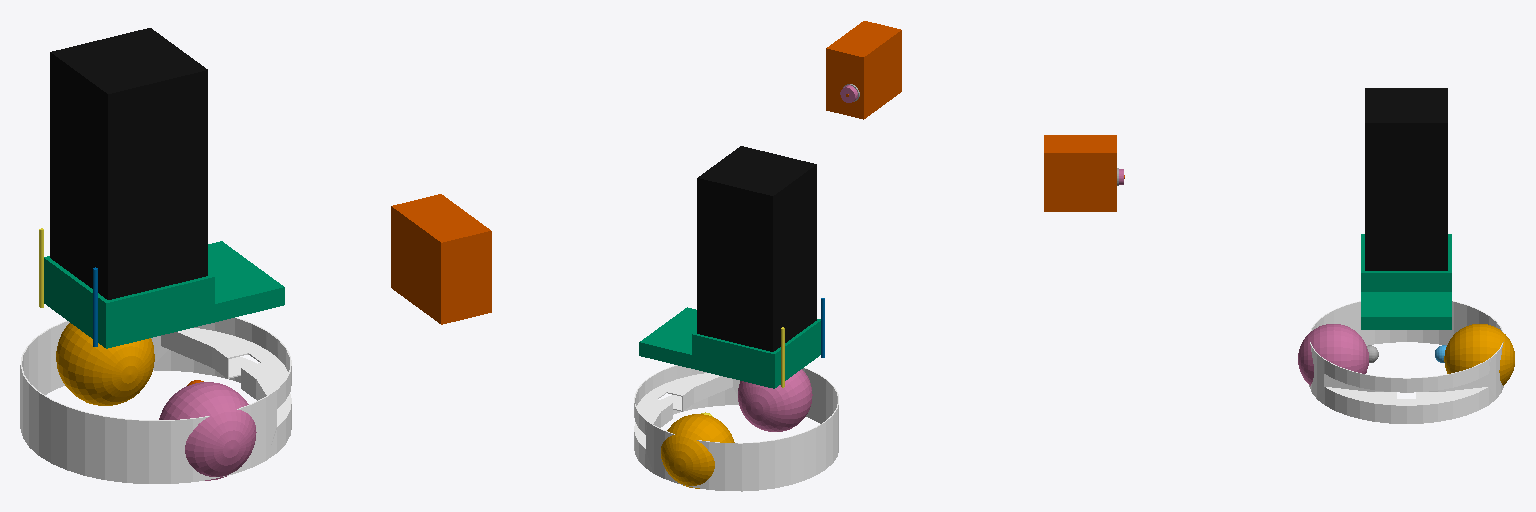
--- What the picture shows (computed from the rendered views, not written in the file) ---
Views: 3 orthographic renders of the robot side by side, from view 1: azimuth 30°, elevation 25°; view 2: azimuth 150°, elevation 25°; view 3: azimuth 270°, elevation 25°.
Robot: tiago — 89 links, 88 joints (45 revolute, 10 continuous, 3 prismatic, 30 fixed); root link base_footprint; default pose: all joints at 0.
Links seen in each view (by area): view 1: torso_fixed_column_link, base_link, torso_fixed_link, hand_safety_box, wheel_right_link, wheel_left_link; view 2: torso_fixed_column_link, base_link, torso_fixed_link, hand_safety_box, wheel_left_link, wheel_right_link; view 3: torso_fixed_column_link, base_link, torso_fixed_link, hand_safety_box, wheel_right_link, wheel_left_link.
Boxes of the visible links, box(x1,y1,x2,y2) form: torso_fixed_column_link: box(50, 28, 207, 299); base_link: box(20, 317, 291, 483); torso_fixed_link: box(44, 241, 284, 348); hand_safety_box: box(391, 194, 491, 324); wheel_right_link: box(159, 382, 256, 480); wheel_left_link: box(56, 323, 154, 405); torso_fixed_column_link: box(697, 146, 816, 351); base_link: box(634, 365, 838, 491); torso_fixed_link: box(639, 307, 820, 388); hand_safety_box: box(826, 21, 901, 119); wheel_left_link: box(661, 414, 734, 488); wheel_right_link: box(738, 369, 812, 431); torso_fixed_column_link: box(1365, 88, 1447, 270); base_link: box(1309, 301, 1503, 423); torso_fixed_link: box(1361, 234, 1451, 329); hand_safety_box: box(1044, 135, 1116, 211); wheel_right_link: box(1298, 324, 1368, 385); wheel_left_link: box(1444, 324, 1514, 385).
Size in the robot's own frame: 0.54 by 1.3 by 0.8435 metres.
Meshes: 17 distinct files referenced, 1 mesh visuals loaded (1 binary STL); not drawn: 31 (reference not matched to a file when rendering).

The robot description file, URDF, robot "tiago":
<?xml version="1.0" ?>
<!-- =================================================================================== -->
<!-- |    This document was autogenerated by xacro from [local-path]/Workspace/mujoco_ws/src/mujoco_robots/tiago/tiago_description/tiago_robot/tiago_description/robots/tiago.urdf.xacro | -->
<!-- |    EDITING THIS FILE BY HAND IS NOT RECOMMENDED                                 | -->
<!-- =================================================================================== -->
<!--

  Copyright (c) 2021 PAL Robotics S.L. All rights reserved.
  Licensed under the Apache License, Version 2.0 (the "License");
  you may not use this file except in compliance with the License.
  You may obtain a copy of the License at
      http://www.apache.org/licenses/LICENSE-2.0
  Unless required by applicable law or agreed to in writing, software
  distributed under the License is distributed on an "AS IS" BASIS,
  WITHOUT WARRANTIES OR CONDITIONS OF ANY KIND, either express or implied.
  See the License for the specific language governing permissions and
  limitations under the License.
-->
<robot name="tiago">
  <material name="Hey5DarkGrey">
    <color rgba="0.1 0.1 0.1 1.0"/>
  </material>
  <!--TODO: Check-->
  <material name="Blue">
    <color rgba="0.0 0.0 0.8 1.0"/>
  </material>
  <material name="Green">
    <color rgba="0.0 0.8 0.0 1.0"/>
  </material>
  <material name="Grey">
    <color rgba="0.7 0.7 0.7 1.0"/>
  </material>
  <material name="LightGrey">
    <color rgba="0.9 0.9 0.9 1.0"/>
  </material>
  <material name="DarkGrey">
    <color rgba="0.1 0.1 0.1 1.0"/>
  </material>
  <material name="Red">
    <color rgba="0.8 0.0 0.0 1.0"/>
  </material>
  <material name="White">
    <color rgba="1.0 1.0 1.0 1.0"/>
  </material>
  <material name="Yellow">
    <color rgba="0.96 0.88 0.14 1.0"/>
  </material>
  <gazebo>
    <plugin filename="libgazebo_ros_control.so" name="gazebo_ros_control">
      <ns/>
      <robotSimType>pal_hardware_gazebo/PalHardwareGazebo</robotSimType>
      <robotNamespace/>
      <controlPeriod>0.001</controlPeriod>
    </plugin>
    <plugin filename="libgazebo_ros_p3d.so" name="gazebo_ros_p3d">
      <bodyName>base_footprint</bodyName>
      <topicName>ground_truth_odom</topicName>
      <alwaysOn>true</alwaysOn>
      <updateRate>100.0</updateRate>
    </plugin>
  </gazebo>
  <gazebo>
    <plugin filename="libgazebo_world_odometry.so" name="gazebo_ros_odometry">
      <frameName>base_footprint</frameName>
      <topicName>floating_base_pose_simulated</topicName>
    </plugin>
  </gazebo>
  <gazebo reference="base_imu_link">
    <!-- this is expected to be reparented to pelvis with appropriate offset
         when imu_link is reduced by fixed joint reduction -->
    <!-- todo: this is working with gazebo 1.4, need to write a unit test -->
    <sensor name="imu_sensor" type="imu">
      <always_on>1</always_on>
      <update_rate>1000.0</update_rate>
      <imu>
        <noise>
          <type>gaussian</type>
          <!-- Noise parameters from Boston Dynamics
               (http://gazebosim.org/wiki/Sensor_noise):
                 rates (rad/s): mean=0, stddev=2e-4
                 accels (m/s/s): mean=0, stddev=1.7e-2
                 rate bias (rad/s): 5e-6 - 1e-5
                 accel bias (m/s/s): 1e-1
               Experimentally, simulation provide rates with noise of
               about 1e-3 rad/s and accels with noise of about 1e-1 m/s/s.
               So we don't expect to see the noise unless number of inner iterations
               are increased.

               We will add bias.  In this model, bias is sampled once for rates
               and once for accels at startup; the sign (negative or positive)
               of each bias is then switched with equal probability.  Thereafter,
               the biases are fixed additive offsets.  We choose
               bias means and stddevs to produce biases close to the provided
               data. -->
          <rate>
            <mean>0.0</mean>
            <stddev>2e-4</stddev>
            <bias_mean>0.0000075</bias_mean>
            <bias_stddev>0.0000008</bias_stddev>
          </rate>
          <accel>
            <mean>0.0</mean>
            <stddev>1.7e-2</stddev>
            <bias_mean>0.1</bias_mean>
            <bias_stddev>0.001</bias_stddev>
          </accel>
        </noise>
      </imu>
    </sensor>
  </gazebo>
  <link name="base_laser_link" type="laser">
    <inertial>
      <origin rpy="0 0 0" xyz="-0.02559000000 -0.00056000000 -0.05732000000"/>
      <mass value="0.28922000000"/>
      <inertia ixx="0.00002628919" ixy="0.00000024298" ixz="-0.00000368129" iyy="0.00003374542" iyz="-0.00000001330" izz="0.00005832599"/>
    </inertial>
    <collision>
      <origin rpy="0 0 0" xyz="0 0 0"/>
      <geometry>
        <mesh filename="package://pmb2_description/meshes/sensors/sick_tim551.stl"/>
      </geometry>
      <material name="DarkGrey"/>
    </collision>
  </link>
  <joint name="base_laser_joint" type="fixed">
    <axis xyz="0 1 0"/>
    <origin rpy="0 0 0" xyz="0.202 0.0 -0.004"/>
    <parent link="base_link"/>
    <child link="base_laser_link"/>
  </joint>
  <gazebo reference="base_laser_link">
    <sensor name="base_laser" type="ray">
      <pose>0 0 0 0 0 0</pose>
      <update_rate>10</update_rate>
      <collisionize>true</collisionize>
      <ray>
        <scan>
          <horizontal>
            <!-- 818 (270/0.33) steps in 270deg fov -->
            <samples>666.5185185185185</samples>
            <resolution>1</resolution>
            <!-- not the sensor resolution; just 1 -->
            <min_angle>-1.9198621771937625</min_angle>
            <max_angle>1.9198621771937625</max_angle>
          </horizontal>
        </scan>
        <range>
          <min>0.05</min>
          <max>25.0</max>
          <resolution>0.001</resolution>
        </range>
      </ray>
      <plugin filename="libgazebo_ros_laser.so" name="gazebo_ros_sick_laser">
        <gaussianNoise>0.06</gaussianNoise>
        <alwaysOn>true</alwaysOn>
        <updateRate>10</updateRate>
        <topicName>scan_raw</topicName>
        <frameName>base_laser_link</frameName>
      </plugin>
    </sensor>
    <material>Gazebo/DarkGrey</material>
  </gazebo>
  <link name="base_sonar_03_link">
    <inertial>
      <origin rpy="0 0 0" xyz="0 0 0"/>
      <mass value="0.001"/>
      <inertia ixx="0.000001" ixy="0" ixz="0" iyy="0.000001" iyz="0" izz="0.000001"/>
    </inertial>
    <collision>
      <origin rpy="0 0 0" xyz="0 0 0"/>
      <geometry>
        <mesh filename="package://pmb2_description/meshes/sensors/srf05.stl"/>
      </geometry>
      <material name="DarkGrey"/>
    </collision>
  </link>
  <joint name="base_sonar_03_joint" type="fixed">
    <origin rpy="0 0 2.356194490192345" xyz="-0.183 0.183 0.173"/>
    <axis xyz="0 0 1"/>
    <parent link="base_link"/>
    <child link="base_sonar_03_link"/>
  </joint>
  <gazebo reference="base_sonar_03_link">
    <sensor name="base_sonar_03" type="ray">
      <pose>0 0 0 0 0 0</pose>
      <update_rate>5</update_rate>
      <collisionize>false</collisionize>
      <ray>
        <scan>
          <horizontal>
            <samples>5</samples>
            <resolution>1</resolution>
            <min_angle>-0.25</min_angle>
            <max_angle>0.25</max_angle>
          </horizontal>
          <vertical>
            <samples>5</samples>
            <resolution>1</resolution>
            <min_angle>-0.25</min_angle>
            <max_angle>0.25</max_angle>
          </vertical>
        </scan>
        <range>
          <min>0.02</min>
          <max>1.0</max>
          <resolution>0.01</resolution>
        </range>
      </ray>
      <plugin filename="libgazebo_ros_range.so" name="gazebo_ros_range">
        <gaussianNoise>0.005</gaussianNoise>
        <alwaysOn>true</alwaysOn>
        <updateRate>5</updateRate>
        <topicName>sonar_base</topicName>
        <frameName>base_sonar_03_link</frameName>
        <minRange>0.02</minRange>
        <maxRange>1.0</maxRange>
        <fov>0.5</fov>
        <radiation>ultrasound</radiation>
      </plugin>
    </sensor>
    <material>Gazebo/DarkGrey</material>
  </gazebo>
  <link name="base_sonar_02_link">
    <inertial>
      <origin rpy="0 0 0" xyz="0 0 0"/>
      <mass value="0.001"/>
      <inertia ixx="0.000001" ixy="0" ixz="0" iyy="0.000001" iyz="0" izz="0.000001"/>
    </inertial>
    <collision>
      <origin rpy="0 0 0" xyz="0 0 0"/>
      <geometry>
        <mesh filename="package://pmb2_description/meshes/sensors/srf05.stl"/>
      </geometry>
      <material name="DarkGrey"/>
    </collision>
  </link>
  <joint name="base_sonar_02_joint" type="fixed">
    <origin rpy="0 0 3.141592653589793" xyz="-0.259 0.0 0.173"/>
    <axis xyz="0 0 1"/>
    <parent link="base_link"/>
    <child link="base_sonar_02_link"/>
  </joint>
  <gazebo reference="base_sonar_02_link">
    <sensor name="base_sonar_02" type="ray">
      <pose>0 0 0 0 0 0</pose>
      <update_rate>5</update_rate>
      <collisionize>false</collisionize>
      <ray>
        <scan>
          <horizontal>
            <samples>5</samples>
            <resolution>1</resolution>
            <min_angle>-0.25</min_angle>
            <max_angle>0.25</max_angle>
          </horizontal>
          <vertical>
            <samples>5</samples>
            <resolution>1</resolution>
            <min_angle>-0.25</min_angle>
            <max_angle>0.25</max_angle>
          </vertical>
        </scan>
        <range>
          <min>0.02</min>
          <max>1.0</max>
          <resolution>0.01</resolution>
        </range>
      </ray>
      <plugin filename="libgazebo_ros_range.so" name="gazebo_ros_range">
        <gaussianNoise>0.005</gaussianNoise>
        <alwaysOn>true</alwaysOn>
        <updateRate>5</updateRate>
        <topicName>sonar_base</topicName>
        <frameName>base_sonar_02_link</frameName>
        <minRange>0.02</minRange>
        <maxRange>1.0</maxRange>
        <fov>0.5</fov>
        <radiation>ultrasound</radiation>
      </plugin>
    </sensor>
    <material>Gazebo/DarkGrey</material>
  </gazebo>
  <link name="base_sonar_01_link">
    <inertial>
      <origin rpy="0 0 0" xyz="0 0 0"/>
      <mass value="0.001"/>
      <inertia ixx="0.000001" ixy="0" ixz="0" iyy="0.000001" iyz="0" izz="0.000001"/>
    </inertial>
    <collision>
      <origin rpy="0 0 0" xyz="0 0 0"/>
      <geometry>
        <mesh filename="package://pmb2_description/meshes/sensors/srf05.stl"/>
      </geometry>
      <material name="DarkGrey"/>
    </collision>
  </link>
  <joint name="base_sonar_01_joint" type="fixed">
    <origin rpy="0 0 3.9269908169872414" xyz="-0.183 -0.183 0.173"/>
    <axis xyz="0 0 1"/>
    <parent link="base_link"/>
    <child link="base_sonar_01_link"/>
  </joint>
  <gazebo reference="base_sonar_01_link">
    <sensor name="base_sonar_01" type="ray">
      <pose>0 0 0 0 0 0</pose>
      <update_rate>5</update_rate>
      <collisionize>false</collisionize>
      <ray>
        <scan>
          <horizontal>
            <samples>5</samples>
            <resolution>1</resolution>
            <min_angle>-0.25</min_angle>
            <max_angle>0.25</max_angle>
          </horizontal>
          <vertical>
            <samples>5</samples>
            <resolution>1</resolution>
            <min_angle>-0.25</min_angle>
            <max_angle>0.25</max_angle>
          </vertical>
        </scan>
        <range>
          <min>0.02</min>
          <max>1.0</max>
          <resolution>0.01</resolution>
        </range>
      </ray>
      <plugin filename="libgazebo_ros_range.so" name="gazebo_ros_range">
        <gaussianNoise>0.005</gaussianNoise>
        <alwaysOn>true</alwaysOn>
        <updateRate>5</updateRate>
        <topicName>sonar_base</topicName>
        <frameName>base_sonar_01_link</frameName>
        <minRange>0.02</minRange>
        <maxRange>1.0</maxRange>
        <fov>0.5</fov>
        <radiation>ultrasound</radiation>
      </plugin>
    </sensor>
    <material>Gazebo/DarkGrey</material>
  </gazebo>
  <link name="base_mic_front_left_link"/>
  <joint name="base_mic_front_left_joint" type="fixed">
    <origin rpy="0 0 0" xyz="0.23182 0.03902 0.195"/>
    <child link="base_mic_front_left_link"/>
    <parent link="base_link"/>
  </joint>
  <link name="base_mic_front_right_link"/>
  <joint name="base_mic_front_right_joint" type="fixed">
    <origin rpy="0 0 0" xyz="0.23182 -0.03902 0.195"/>
    <child link="base_mic_front_right_link"/>
    <parent link="base_link"/>
  </joint>
  <link name="base_mic_back_left_link"/>
  <joint name="base_mic_back_left_joint" type="fixed">
    <origin rpy="0 0 0" xyz="-0.1082 -0.0599 0.195"/>
    <child link="base_mic_back_left_link"/>
    <parent link="base_link"/>
  </joint>
  <link name="base_mic_back_right_link"/>
  <joint name="base_mic_back_right_joint" type="fixed">
    <origin rpy="0 0 0" xyz="-0.1082 -0.13789 0.195"/>
    <child link="base_mic_back_right_link"/>
    <parent link="base_link"/>
  </joint>
  <!-- Base -->
  <link name="base_link">
    <inertial>
      <origin rpy="0 0 0" xyz="-0.00000106 0.00000109 0.0000387"/>
      <mass value="28.26649"/>
      <inertia ixx="0.465408937" ixy="0.002160024" ixz="-0.001760255" iyy="0.483193291" iyz="-0.000655952" izz="0.550939703"/>
    </inertial>
    <collision>
      <origin rpy="0 0 0" xyz="0 0 0"/>
      <geometry>
        <mesh filename="package://pmb2_description/meshes/base/base.stl"/>
      </geometry>
      <material name="White"/>
    </collision>
    <visual>
      <origin rpy="0 0 0" xyz="0 0 0"/>
      <geometry>
        <mesh filename="package://pmb2_description/meshes/base/base_collision.stl"/>
      </geometry>
      <material name="White"/>
    </visual>
  </link>
  <gazebo reference="base_link">
    <material>Gazebo/White</material>
  </gazebo>
  <!-- Base footprint -->
  <link name="base_footprint"/>
  <joint name="base_footprint_joint" type="fixed">
    <origin rpy="0 0 0" xyz="0 0 0.0985"/>
    <child link="base_link"/>
    <parent link="base_footprint"/>
  </joint>
  <!-- gazebo parameters are given here for base_link thru base_footprint -->
  <gazebo reference="base_footprint">
    <kp>100000000.0</kp>
    <kd>10.0</kd>
    <mu1>0.1</mu1>
    <mu2>0.1</mu2>
    <fdir1>1 0 0</fdir1>
    <maxVel>10.0</maxVel>
    <minDepth>0.0005</minDepth>
    <laserRetro>0</laserRetro>
  </gazebo>
  <link name="base_cover_link">
    <inertial>
      <origin rpy="0 0 0" xyz="0.22414000000 0.00002000000 0.04681000000"/>
      <mass value="0.25821000000"/>
      <inertia ixx="0.00023719188" ixy="0.00000006119" ixz="-0.00000011799" iyy="0.00028335052" iyz="0.00000000774" izz="0.00038497063"/>
    </inertial>
    <collision>
      <origin rpy="0 0 0" xyz="0 0 0"/>
      <geometry>
        <mesh filename="package://pmb2_description/meshes/base/base_ring.stl"/>
      </geometry>
      <material name="Orange"/>
    </collision>
  </link>
  <joint name="cover_joint" type="fixed">
    <parent link="base_footprint"/>
    <child link="base_cover_link"/>
    <origin rpy="0 0 0" xyz="0 0 0.13"/>
  </joint>
  <gazebo reference="base_cover_link">
    <material>Gazebo/Orange</material>
  </gazebo>
  <link name="base_antenna_left_link">
    <inertial>
      <origin rpy="0 0 0" xyz="0 0 0"/>
      <mass value="0.000001"/>
      <inertia ixx="0.00000002371" ixy="0.00000006119" ixz="0.00000001179" iyy="0.00000002833" iyz="0.00000000774" izz="0.00000003849"/>
    </inertial>
    <collision>
      <origin rpy="0 0 0" xyz="0 0 0"/>
      <geometry>
        <mesh filename="package://pmb2_description/meshes/objects/antenna.stl"/>
      </geometry>
      <material name="Black"/>
    </collision>
    <visual>
      <origin rpy="0 0 0" xyz="0 0 0.085"/>
      <geometry>
        <cylinder length="0.17" radius="0.005"/>
      </geometry>
      <material name="Black"/>
    </visual>
  </link>
  <gazebo reference="base_antenna_left_link">
    <material>Gazebo/Black</material>
  </gazebo>
  <joint name="base_antenna_left_joint" type="fixed">
    <parent link="base_link"/>
    <child link="base_antenna_left_link"/>
    <origin rpy="0 0 0" xyz="-0.201 0.1062 0.195"/>
  </joint>
  <link name="base_antenna_right_link">
    <inertial>
      <origin rpy="0 0 0" xyz="0 0 0"/>
      <mass value="0.000001"/>
      <inertia ixx="0.00000002371" ixy="0.00000006119" ixz="0.00000001179" iyy="0.00000002833" iyz="0.00000000774" izz="0.00000003849"/>
    </inertial>
    <collision>
      <origin rpy="0 0 0" xyz="0 0 0"/>
      <geometry>
        <mesh filename="package://pmb2_description/meshes/objects/antenna.stl"/>
      </geometry>
      <material name="Black"/>
    </collision>
    <visual>
      <origin rpy="0 0 0" xyz="0 0 0.085"/>
      <geometry>
        <cylinder length="0.17" radius="0.005"/>
      </geometry>
      <material name="Black"/>
    </visual>
  </link>
  <gazebo reference="base_antenna_right_link">
    <material>Gazebo/Black</material>
  </gazebo>
  <joint name="base_antenna_right_joint" type="fixed">
    <parent link="base_link"/>
    <child link="base_antenna_right_link"/>
    <origin rpy="0 0 0" xyz="-0.201 -0.1062 0.195"/>
  </joint>
  <link name="base_imu_link">
    <inertial>
      <mass value="0.01"/>
      <origin xyz="0 0 0"/>
      <inertia ixx="0.000001" ixy="0" ixz="0" iyy="0.000001" iyz="0" izz="0.000001"/>
    </inertial>
    <!--collision>
        <origin rpy="0 0 0" xyz="0 0 0"/>
        <geometry>
          <box size="0.01 0.01 0.01"/>
        </geometry>
      </collision-->
  </link>
  <joint name="base_imu_joint" type="fixed">
    <parent link="base_link"/>
    <child link="base_imu_link"/>
    <origin rpy="0 0 -1.5707963267948966" xyz="0.10171 0 0.11282"/>
  </joint>
  <gazebo reference="base_imu_link">
    <sensor name="base_imu_sensor" type="imu">
      <always_on>1</always_on>
      <update_rate>100.0</update_rate>
      <imu>
        <noise>
          <type>gaussian</type>
          <rate>
            <mean>0.0</mean>
            <stddev>2e-4</stddev>
            <bias_mean>0.0000075</bias_mean>
            <bias_stddev>0.0000008</bias_stddev>
          </rate>
          <accel>
            <mean>0.0</mean>
            <stddev>1.7e-2</stddev>
            <bias_mean>0.1</bias_mean>
            <bias_stddev>0.001</bias_stddev>
          </accel>
        </noise>
      </imu>
    </sensor>
  </gazebo>
  <link name="wheel_right_link">
    <inertial>
      <origin rpy="0 0 0" xyz="0 0 -0.00207"/>
      <mass value="1.82362"/>
      <inertia ixx="0.00499743171" ixy="4.464e-08" ixz="-0.00000002245" iyy="0.00499741733" iyz="-1.64e-09" izz="0.00839239692"/>
    </inertial>
    <collision>
      <origin rpy="-0.0 0 0" xyz="0 0 0"/>
      <geometry>
        <mesh filename="package://pmb2_description/meshes/wheels/wheel.stl"/>
      </geometry>
      <material name="DarkGrey"/>
    </collision>
    <visual>
      <origin rpy="0 0 0" xyz="0 0 0"/>
      <geometry>
        <sphere radius="0.0985"/>
        <!-- length="${width}"/> -->
      </geometry>
    </visual>
  </link>
  <link name="suspension_right_link">
    <inertial>
      <origin rpy="0 0 0" xyz="0 0 -0.02"/>
      <mass value="10"/>
      <inertia ixx="1.0" ixy="0" ixz="0" iyy="1.0" iyz="0" izz="1.0"/>
    </inertial>
    <kinematic>0</kinematic>
    <gravity>1</gravity>
  </link>
  <joint name="suspension_right_joint" type="prismatic">
    <origin rpy="0 0 0" xyz="0 0 0"/>
    <axis xyz="0 0 1"/>
    <limit effort="100.0" lower="-0.005" upper="0.005" velocity="1.0"/>
    <child link="suspension_right_link"/>
    <parent link="base_link"/>
    <calibration rising="0.0"/>
    <dynamics damping="100"/>
    <safety_controller k_position="0" k_velocity="10" soft_lower_limit="-0.005" soft_upper_limit="0.005"/>
  </joint>
  <joint name="wheel_right_joint" type="continuous">
    <parent link="suspension_right_link"/>
    <child link="wheel_right_link"/>
    <origin rpy="-1.5707963267948966 0 0" xyz="0 -0.2022 0.0"/>
    <axis xyz="0 0 1"/>
    <limit effort="6.0" velocity="10.152284263959391"/>
  </joint>
  <transmission name="wheel_right_trans">
    <type>transmission_interface/SimpleTransmission</type>
    <actuator name="wheel_right_motor">
      <mechanicalReduction>1.0</mechanicalReduction>
    </actuator>
    <joint name="wheel_right_joint">
      <hardwareInterface>hardware_interface/VelocityJointInterface</hardwareInterface>
      <hardwareInterface>hardware_interface/JointStateInterface</hardwareInterface>
    </joint>
  </transmission>
  <!-- Contact model for the wheel surface -->
  <gazebo reference="wheel_right_link">
    <kp>1000000.0</kp>
    <kd>100.0</kd>
    <!--
      <mu1>10.0</mu1>
      <mu2>10.0</mu2>
      -->
    <mu1>100000000000000.0</mu1>
    <mu2>100000000000000.0</mu2>
    <!--<fdir1>1 0 0</fdir1>-->
    <maxVel>1.0</maxVel>
    <minDepth>0.002</minDepth>
    <material>Gazebo/DarkGrey</material>
  </gazebo>
  <gazebo reference="wheel_{side}_joint">
    <implicitSpringDamper>1</implicitSpringDamper>
  </gazebo>
  <link name="wheel_left_link">
    <inertial>
      <origin rpy="0 0 0" xyz="0 0 0.00207"/>
      <mass value="1.82362"/>
      <inertia ixx="0.00499743171" ixy="-4.464e-08" ixz="-0.00000002245" iyy="0.00499741733" iyz="1.64e-09" izz="0.00839239692"/>
    </inertial>
    <collision>
      <origin rpy="-3.141592653589793 0 0" xyz="0 0 0"/>
      <geometry>
        <mesh filename="package://pmb2_description/meshes/wheels/wheel.stl"/>
      </geometry>
      <material name="DarkGrey"/>
    </collision>
    <visual>
      <origin rpy="0 0 0" xyz="0 0 0"/>
      <geometry>
        <sphere radius="0.0985"/>
        <!-- length="${width}"/> -->
      </geometry>
    </visual>
  </link>
  <link name="suspension_left_link">
    <inertial>
      <origin rpy="0 0 0" xyz="0 0 -0.02"/>
      <mass value="10"/>
      <inertia ixx="1.0" ixy="0" ixz="0" iyy="1.0" iyz="0" izz="1.0"/>
    </inertial>
    <kinematic>0</kinematic>
    <gravity>1</gravity>
  </link>
  <joint name="suspension_left_joint" type="prismatic">
    <origin rpy="0 0 0" xyz="0 0 0"/>
    <axis xyz="0 0 1"/>
    <limit effort="100.0" lower="-0.005" upper="0.005" velocity="1.0"/>
    <child link="suspension_left_link"/>
    <parent link="base_link"/>
    <calibration rising="0.0"/>
    <dynamics damping="100"/>
    <safety_controller k_position="0" k_velocity="10" soft_lower_limit="-0.005" soft_upper_limit="0.005"/>
  </joint>
  <joint name="wheel_left_joint" type="continuous">
    <parent link="suspension_left_link"/>
    <child link="wheel_left_link"/>
    <origin rpy="-1.5707963267948966 0 0" xyz="0 0.2022 0.0"/>
    <axis xyz="0 0 1"/>
    <limit effort="6.0" velocity="10.152284263959391"/>
  </joint>
  <transmission name="wheel_left_trans">
    <type>transmission_interface/SimpleTransmission</type>
    <actuator name="wheel_left_motor">
      <mechanicalReduction>1.0</mechanicalReduction>
    </actuator>
    <joint name="wheel_left_joint">
      <hardwareInterface>hardware_interface/VelocityJointInterface</hardwareInterface>
      <hardwareInterface>hardware_interface/JointStateInterface</hardwareInterface>
    </joint>
  </transmission>
  <!-- Contact model for the wheel surface -->
  <gazebo reference="wheel_left_link">
    <kp>1000000.0</kp>
    <kd>100.0</kd>
    <!--
      <mu1>10.0</mu1>
      <mu2>10.0</mu2>
      -->
    <mu1>100000000000000.0</mu1>
    <mu2>100000000000000.0</mu2>
    <!--<fdir1>1 0 0</fdir1>-->
    <maxVel>1.0</maxVel>
    <minDepth>0.002</minDepth>
    <material>Gazebo/DarkGrey</material>
  </gazebo>
  <gazebo reference="wheel_{side}_joint">
    <implicitSpringDamper>1</implicitSpringDamper>
  </gazebo>
  <link name="caster_front_right_1_link">
    <inertial>
      <origin rpy="0 0 0" xyz="-0.00634599 0.00005347 -0.02037519"/>
      <mass value="0.05144761"/>
      <inertia ixx="0.00001513" ixy="-0.00000003" ixz="0.00000267" iyy="0.00001309" iyz="-0.00000005" izz="0.00001198"/>
    </inertial>
    <collision>
      <origin rpy="0 0 0" xyz="0 0 0"/>
      <geometry>
        <mesh filename="package://pmb2_description/meshes/wheels/caster_1.stl"/>
      </geometry>
      <material name="Grey"/>
    </collision>
    <!--visual>
        <origin xyz="0 0 0" rpy="0 0 0"/>
        <geometry>
          <cylinder radius="${radius}" length="${width}"/>
        </geometry>
      </visual-->
  </link>
  <link name="caster_front_right_2_link">
    <inertial>
      <origin rpy="0 0 0" xyz="0 0 0"/>
      <mass value="0.08855784"/>
      <inertia ixx="0.00001075" ixy="0" ixz="0" iyy="0.00001541" iyz="0" izz="0.00001075"/>
    </inertial>
    <collision>
      <origin rpy="0 0 0" xyz="0 0 0"/>
      <geometry>
        <mesh filename="package://pmb2_description/meshes/wheels/caster_2.stl"/>
      </geometry>
      <material name="DarkGrey"/>
    </collision>
    <visual>
      <origin rpy="0 0 0" xyz="0 0 0"/>
      <geometry>
        <sphere radius="0.025"/>
      </geometry>
    </visual>
  </link>
  <joint name="caster_front_right_1_joint" type="continuous">
    <parent link="base_link"/>
    <child link="caster_front_right_1_link"/>
    <origin rpy="0 0 0" xyz="0.1695 -0.102 -0.0335"/>
    <axis xyz="0 0 1"/>
    <dynamics damping="0.005" friction="0.0"/>
  </joint>
  <joint name="caster_front_right_2_joint" type="continuous">
    <parent link="caster_front_right_1_link"/>
    <child link="caster_front_right_2_link"/>
    <origin rpy="-1.5707963267948966 0 0" xyz="-0.016 0.0000 -0.040"/>
    <axis xyz="0 0 1"/>
  </joint>
  <!-- Contact model for the caster wheel surface -->
  <gazebo reference="caster_front_right_1_link">
    <kp>100000000.0</kp>
    <kd>10.0</kd>
    <mu1>0.1</mu1>
    <mu2>0.1</mu2>
    <!--<fdir1>1 0 0</fdir1>-->
    <maxVel>10.0</maxVel>
    <minDepth>0.0005</minDepth>
    <material>Gazebo/DarkGrey</material>
  </gazebo>
  <gazebo reference="caster_front_right_2_link">
    <kp>10000000.0</kp>
    <kd>10.0</kd>
    <mu1>0.1</mu1>
    <mu2>0.1</mu2>
    <!--<fdir1>1 0 0</fdir1>-->
    <maxVel>10.0</maxVel>
    <minDepth>0.0005</minDepth>
    <material>Gazebo/DarkGrey</material>
  </gazebo>
  <gazebo reference="caster_{side}_1_joint">
    <implicitSpringDamper>0</implicitSpringDamper>
  </gazebo>
  <gazebo reference="caster_{side}_2_joint">
    <implicitSpringDamper>0</implicitSpringDamper>
  </gazebo>
  <link name="caster_front_left_1_link">
    <inertial>
      <origin rpy="0 0 0" xyz="-0.00634599 0.00005347 -0.02037519"/>
      <mass value="0.05144761"/>
      <inertia ixx="0.00001513" ixy="-0.00000003" ixz="0.00000267" iyy="0.00001309" iyz="-0.00000005" izz="0.00001198"/>
    </inertial>
    <collision>
      <origin rpy="0 0 0" xyz="0 0 0"/>
      <geometry>
        <mesh filename="package://pmb2_description/meshes/wheels/caster_1.stl"/>
      </geometry>
      <material name="Grey"/>
    </collision>
    <!--visual>
        <origin xyz="0 0 0" rpy="0 0 0"/>
        <geometry>
          <cylinder radius="${radius}" length="${width}"/>
        </geometry>
      </visual-->
  </link>
  <link name="caster_front_left_2_link">
    <inertial>
      <origin rpy="0 0 0" xyz="0 0 0"/>
      <mass value="0.08855784"/>
      <inertia ixx="0.00001075" ixy="0" ixz="0" iyy="0.00001541" iyz="0" izz="0.00001075"/>
    </inertial>
    <collision>
      <origin rpy="0 0 0" xyz="0 0 0"/>
      <geometry>
        <mesh filename="package://pmb2_description/meshes/wheels/caster_2.stl"/>
      </geometry>
      <material name="DarkGrey"/>
    </collision>
    <visual>
      <origin rpy="0 0 0" xyz="0 0 0"/>
      <geometry>
        <sphere radius="0.025"/>
      </geometry>
    </visual>
  </link>
  <joint name="caster_front_left_1_joint" type="continuous">
    <parent link="base_link"/>
    <child link="caster_front_left_1_link"/>
    <origin rpy="0 0 0" xyz="0.1695 0.102 -0.0335"/>
    <axis xyz="0 0 1"/>
    <dynamics damping="0.005" friction="0.0"/>
  </joint>
  <joint name="caster_front_left_2_joint" type="continuous">
    <parent link="caster_front_left_1_link"/>
    <child link="caster_front_left_2_link"/>
    <origin rpy="-1.5707963267948966 0 0" xyz="-0.016 0.0000 -0.040"/>
    <axis xyz="0 0 1"/>
  </joint>
  <!-- Contact model for the caster wheel surface -->
  <gazebo reference="caster_front_left_1_link">
    <kp>100000000.0</kp>
    <kd>10.0</kd>
    <mu1>0.1</mu1>
    <mu2>0.1</mu2>
    <!--<fdir1>1 0 0</fdir1>-->
    <maxVel>10.0</maxVel>
    <minDepth>0.0005</minDepth>
    <material>Gazebo/DarkGrey</material>
  </gazebo>
  <gazebo reference="caster_front_left_2_link">
    <kp>10000000.0</kp>
    <kd>10.0</kd>
    <mu1>0.1</mu1>
    <mu2>0.1</mu2>
    <!--<fdir1>1 0 0</fdir1>-->
    <maxVel>10.0</maxVel>
    <minDepth>0.0005</minDepth>
    <material>Gazebo/DarkGrey</material>
  </gazebo>
  <gazebo reference="caster_{side}_1_joint">
    <implicitSpringDamper>0</implicitSpringDamper>
  </gazebo>
  <gazebo reference="caster_{side}_2_joint">
    <implicitSpringDamper>0</implicitSpringDamper>
  </gazebo>
  <link name="caster_back_right_1_link">
    <inertial>
      <origin rpy="0 0 0" xyz="-0.00634599 0.00005347 -0.02037519"/>
      <mass value="0.05144761"/>
      <inertia ixx="0.00001513" ixy="-0.00000003" ixz="0.00000267" iyy="0.00001309" iyz="-0.00000005" izz="0.00001198"/>
    </inertial>
    <collision>
      <origin rpy="0 0 0" xyz="0 0 0"/>
      <geometry>
        <mesh filename="package://pmb2_description/meshes/wheels/caster_1.stl"/>
      </geometry>
      <material name="Grey"/>
    </collision>
    <!--visual>
        <origin xyz="0 0 0" rpy="0 0 0"/>
        <geometry>
          <cylinder radius="${radius}" length="${width}"/>
        </geometry>
      </visual-->
  </link>
  <link name="caster_back_right_2_link">
    <inertial>
      <origin rpy="0 0 0" xyz="0 0 0"/>
      <mass value="0.08855784"/>
      <inertia ixx="0.00001075" ixy="0" ixz="0" iyy="0.00001541" iyz="0" izz="0.00001075"/>
    </inertial>
    <collision>
      <origin rpy="0 0 0" xyz="0 0 0"/>
      <geometry>
        <mesh filename="package://pmb2_description/meshes/wheels/caster_2.stl"/>
      </geometry>
      <material name="DarkGrey"/>
    </collision>
    <visual>
      <origin rpy="0 0 0" xyz="0 0 0"/>
      <geometry>
        <sphere radius="0.025"/>
      </geometry>
    </visual>
  </link>
  <joint name="caster_back_right_1_joint" type="continuous">
    <parent link="base_link"/>
    <child link="caster_back_right_1_link"/>
    <origin rpy="0 0 0" xyz="-0.17350000000000002 -0.102 -0.0335"/>
    <axis xyz="0 0 1"/>
    <dynamics damping="0.005" friction="0.0"/>
  </joint>
  <joint name="caster_back_right_2_joint" type="continuous">
    <parent link="caster_back_right_1_link"/>
    <child link="caster_back_right_2_link"/>
    <origin rpy="-1.5707963267948966 0 0" xyz="-0.016 0.0000 -0.040"/>
    <axis xyz="0 0 1"/>
  </joint>
  <!-- Contact model for the caster wheel surface -->
  <gazebo reference="caster_back_right_1_link">
    <kp>100000000.0</kp>
    <kd>10.0</kd>
    <mu1>0.1</mu1>
    <mu2>0.1</mu2>
    <!--<fdir1>1 0 0</fdir1>-->
    <maxVel>10.0</maxVel>
    <minDepth>0.0005</minDepth>
    <material>Gazebo/DarkGrey</material>
  </gazebo>
  <gazebo reference="caster_back_right_2_link">
    <kp>10000000.0</kp>
    <kd>10.0</kd>
    <mu1>0.1</mu1>
    <mu2>0.1</mu2>
    <!--<fdir1>1 0 0</fdir1>-->
    <maxVel>10.0</maxVel>
    <minDepth>0.0005</minDepth>
    <material>Gazebo/DarkGrey</material>
  </gazebo>
  <gazebo reference="caster_{side}_1_joint">
    <implicitSpringDamper>0</implicitSpringDamper>
  </gazebo>
  <gazebo reference="caster_{side}_2_joint">
    <implicitSpringDamper>0</implicitSpringDamper>
  </gazebo>
  <link name="caster_back_left_1_link">
    <inertial>
      <origin rpy="0 0 0" xyz="-0.00634599 0.00005347 -0.02037519"/>
      <mass value="0.05144761"/>
      <inertia ixx="0.00001513" ixy="-0.00000003" ixz="0.00000267" iyy="0.00001309" iyz="-0.00000005" izz="0.00001198"/>
    </inertial>
    <collision>
      <origin rpy="0 0 0" xyz="0 0 0"/>
      <geometry>
        <mesh filename="package://pmb2_description/meshes/wheels/caster_1.stl"/>
      </geometry>
      <material name="Grey"/>
    </collision>
    <!--visual>
        <origin xyz="0 0 0" rpy="0 0 0"/>
        <geometry>
          <cylinder radius="${radius}" length="${width}"/>
        </geometry>
      </visual-->
  </link>
  <link name="caster_back_left_2_link">
    <inertial>
      <origin rpy="0 0 0" xyz="0 0 0"/>
      <mass value="0.08855784"/>
      <inertia ixx="0.00001075" ixy="0" ixz="0" iyy="0.00001541" iyz="0" izz="0.00001075"/>
    </inertial>
    <collision>
      <origin rpy="0 0 0" xyz="0 0 0"/>
      <geometry>
        <mesh filename="package://pmb2_description/meshes/wheels/caster_2.stl"/>
      </geometry>
      <material name="DarkGrey"/>
    </collision>
    <visual>
      <origin rpy="0 0 0" xyz="0 0 0"/>
      <geometry>
        <sphere radius="0.025"/>
      </geometry>
    </visual>
  </link>
  <joint name="caster_back_left_1_joint" type="continuous">
    <parent link="base_link"/>
    <child link="caster_back_left_1_link"/>
    <origin rpy="0 0 0" xyz="-0.17350000000000002 0.102 -0.0335"/>
    <axis xyz="0 0 1"/>
    <dynamics damping="0.005" friction="0.0"/>
  </joint>
  <joint name="caster_back_left_2_joint" type="continuous">
    <parent link="caster_back_left_1_link"/>
    <child link="caster_back_left_2_link"/>
    <origin rpy="-1.5707963267948966 0 0" xyz="-0.016 0.0000 -0.040"/>
    <axis xyz="0 0 1"/>
  </joint>
  <!-- Contact model for the caster wheel surface -->
  <gazebo reference="caster_back_left_1_link">
    <kp>100000000.0</kp>
    <kd>10.0</kd>
    <mu1>0.1</mu1>
    <mu2>0.1</mu2>
    <!--<fdir1>1 0 0</fdir1>-->
    <maxVel>10.0</maxVel>
    <minDepth>0.0005</minDepth>
    <material>Gazebo/DarkGrey</material>
  </gazebo>
  <gazebo reference="caster_back_left_2_link">
    <kp>10000000.0</kp>
    <kd>10.0</kd>
    <mu1>0.1</mu1>
    <mu2>0.1</mu2>
    <!--<fdir1>1 0 0</fdir1>-->
    <maxVel>10.0</maxVel>
    <minDepth>0.0005</minDepth>
    <material>Gazebo/DarkGrey</material>
  </gazebo>
  <gazebo reference="caster_{side}_1_joint">
    <implicitSpringDamper>0</implicitSpringDamper>
  </gazebo>
  <gazebo reference="caster_{side}_2_joint">
    <implicitSpringDamper>0</implicitSpringDamper>
  </gazebo>
  <!-- Bottom fixed part of column -->
  <link name="torso_fixed_link">
    <inertial>
      <origin rpy="0.00000 0.00000 0.00000" xyz="0.02435 -0.00464 0.15900"/>
      <mass value="14.01360"/>
      <inertia ixx="0.38341100000" ixy="0.00036400000" ixz="-0.02438900000" iyy="0.40577300000" iyz="-0.00078200000" izz="0.07699800000"/>
    </inertial>
    <collision>
      <origin rpy="0 0 0" xyz="0 0 0"/>
      <geometry>
        <mesh filename="package://tiago_description/meshes/torso/torso_fix.stl" scale="1 1 1"/>
      </geometry>
      <material name="LightGrey"/>
    </collision>
    <visual>
      <origin rpy="0 0 0" xyz="0.085 0.0 0.02"/>
      <geometry>
        <box size="0.4 0.25 0.04"/>
      </geometry>
    </visual>
    <visual>
      <origin rpy="0 0 0" xyz="0 0 0.05"/>
      <geometry>
        <box size="0.25 0.25 0.1"/>
      </geometry>
    </visual>
  </link>
  <joint name="torso_fixed_joint" type="fixed">
    <origin rpy="0 0 0" xyz="-0.062 0.0 0.193"/>
    <parent link="base_link"/>
    <child link="torso_fixed_link"/>
    <axis xyz="0 0 0"/>
  </joint>
  <!-- Middle extending  -->
  <link name="torso_fixed_column_link">
    <inertial>
      <origin rpy="0 0 0" xyz="0 0 0"/>
      <mass value="0.01"/>
      <inertia ixx="0.000001" ixy="0" ixz="0" iyy="0.000001" iyz="0" izz="0.000001"/>
    </inertial>
    <collision>
      <origin rpy="0 0 0" xyz="0 0 0.275"/>
      <geometry>
        <box size="0.18 0.2 0.55"/>
      </geometry>
      <material name="DarkGrey"/>
    </collision>
    <visual>
      <origin rpy="0 0 0" xyz="0 0 0.275"/>
      <geometry>
        <box size="0.23 0.23 0.55"/>
      </geometry>
      <material name="DarkGrey"/>
    </visual>
  </link>
  <gazebo reference="torso_fixed_column_link">
    <material>Gazebo/DarkGrey</material>
  </gazebo>
  <joint name="torso_fixed_column_joint" type="fixed">
    <origin rpy="0 0 0" xyz="-0.062 0 0.195"/>
    <parent link="base_link"/>
    <child link="torso_fixed_column_link"/>
    <axis xyz="0 0 0"/>
  </joint>
  <link name="torso_lift_link">
    <inertial>
      <origin rpy="0.00000 0.00000 0.00000" xyz="0.04361 -0.00116 -0.17334"/>
      <mass value="6.93198"/>
      <inertia ixx="0.24487000000" ixy="-0.00145600000" ixz="-0.00974200000" iyy="0.24926900000" iyz="0.00828100000" izz="0.09039500000"/>
    </inertial>
    <!-- Lifting body -->
    <collision>
      <origin rpy="0 0 0" xyz="0 0 0"/>
      <geometry>
        <mesh filename="package://tiago_description/meshes/torso/torso_lift_with_arm.stl" scale="1 1 1"/>
      </geometry>
      <material name="White"/>
    </collision>
    <visual>
      <origin rpy="0 0 0" xyz="0 0 0"/>
      <geometry>
        <mesh filename="package://tiago_description/meshes/torso/torso_lift_visual_core.dae" scale="1 1 1"/>
      </geometry>
      <material name="LightGrey"/>
    </visual>
    <visual>
      <origin rpy="0 0 0" xyz="0 0 0"/>
      <geometry>
        <mesh filename="package://tiago_description/meshes/torso/torso_lift_visual_shoulder.dae" scale="1 1 1"/>
      </geometry>
      <material name="LightGrey"/>
    </visual>
    <visual>
      <origin rpy="0 0 0" xyz="0 0 0"/>
      <geometry>
        <mesh filename="package://tiago_description/meshes/torso/torso_lift_visual_neck.dae" scale="1 1 1"/>
      </geometry>
      <material name="LightGrey"/>
    </visual>
  </link>
  <joint name="torso_lift_joint" type="prismatic">
    <origin rpy="0.0 0.0 0.0" xyz="0.0 0.0 0.597"/>
    <parent link="torso_fixed_link"/>
    <child link="torso_lift_link"/>
    <axis xyz="0 0 1"/>
    <limit effort="2000" lower="0" upper="0.35" velocity="0.07"/>
    <calibration rising="0.0"/>
    <dynamics damping="1000"/>
    <safety_controller k_position="20" k_velocity="20" soft_lower_limit="0.0" soft_upper_limit="0.35"/>
  </joint>
  <transmission name="torso_lift_trans">
    <type>transmission_interface/SimpleTransmission</type>
    <actuator name="torso_lift_motor">
      <mechanicalReduction>1.0</mechanicalReduction>
    </actuator>
    <joint name="torso_lift_joint">
      <hardwareInterface>hardware_interface/PositionJointInterface</hardwareInterface>
      <hardwareInterface>hardware_interface/JointStateInterface</hardwareInterface>
    </joint>
  </transmission>
  <link name="head_1_link">
    <inertial>
      <origin rpy="0.00000 0.00000 0.00000" xyz="-0.00508 0.00237 0.07229"/>
      <mass value="0.62220"/>
      <inertia ixx="0.00119200000" ixy="-0.00000700000" ixz="0.00009600000" iyy="0.00140200000" iyz="0.00000400000" izz="0.00088900000"/>
    </inertial>
    <collision>
      <origin rpy="0 0 0" xyz="0 0 0"/>
      <geometry>
        <mesh filename="package://tiago_description/meshes/head/head_1.stl" scale="1 1 1"/>
      </geometry>
      <material name="White"/>
    </collision>
    <visual>
      <origin rpy="0 0 0.0" xyz="0.0 0 0"/>
      <geometry>
        <mesh filename="package://tiago_description/meshes/head/head_1_visual.dae" scale="1 1 1"/>
      </geometry>
      <material name="White"/>
    </visual>
  </link>
  <joint name="head_1_joint" type="revolute">
    <parent link="torso_lift_link"/>
    <child link="head_1_link"/>
    <origin rpy="0 0 0" xyz="0.182 0.0 0.0"/>
    <axis xyz="0 0 1"/>
    <limit effort="5.197" lower="-1.3089969389957472" upper="1.3089969389957472" velocity="3.0"/>
    <dynamics damping="0.5" friction="1.0"/>
    <safety_controller k_position="20" k_velocity="20" soft_lower_limit="-1.2389969389957471" soft_upper_limit="1.2389969389957471"/>
  </joint>
  <gazebo reference="head_1_link">
    <mu1>0.9</mu1>
    <mu2>0.9</mu2>
  </gazebo>
  <gazebo reference="head_1_joint">
    <implicitSpringDamper>1</implicitSpringDamper>
  </gazebo>
  <transmission name="head_1_trans">
    <type>transmission_interface/SimpleTransmission</type>
    <actuator name="head_1_motor">
      <mechanicalReduction>1</mechanicalReduction>
    </actuator>
    <joint name="head_1_joint">
      <offset>0.0</offset>
      <hardwareInterface>hardware_interface/JointStateInterface</hardwareInterface>
      <hardwareInterface>hardware_interface/PositionJointInterface</hardwareInterface>
    </joint>
  </transmission>
  <link name="head_2_link">
    <inertial>
      <origin rpy="0.00000 0.00000 0.00000" xyz="0.04700 0.05542 0.00022"/>
      <mass value="0.66123"/>
      <inertia ixx="0.00462000000" ixy="0.00068900000" ixz="0.00000600000" iyy="0.00486100000" iyz="0.00000600000" izz="0.00313200000"/>
    </inertial>
    <collision>
      <origin rpy="0 0 0" xyz="0 0 0"/>
      <geometry>
        <mesh filename="package://tiago_description/meshes/head/head_2.stl" scale="1 1 1"/>
      </geometry>
      <material name="White"/>
    </collision>
    <visual>
      <origin rpy="0 0 0" xyz="0 0 0"/>
      <geometry>
        <mesh filename="package://tiago_description/meshes/head/head_2_visual.dae" scale="1 1 1"/>
      </geometry>
    </visual>
  </link>
  <joint name="head_2_joint" type="revolute">
    <parent link="head_1_link"/>
    <child link="head_2_link"/>
    <origin rpy="1.5707963267948966 0 0" xyz="0.005 0.0 0.098"/>
    <axis xyz="0 0 1"/>
    <limit effort="2.77" lower="-1.0471975511965976" upper="0.7853981633974483" velocity="3.0"/>
    <dynamics damping="0.5" friction="1.0"/>
    <safety_controller k_position="20" k_velocity="20" soft_lower_limit="-0.9771975511965976" soft_upper_limit="0.7153981633974482"/>
  </joint>
  <transmission name="head_2_trans">
    <type>transmission_interface/SimpleTransmission</type>
    <actuator name="head_2_motor">
      <mechanicalReduction>1</mechanicalReduction>
    </actuator>
    <joint name="head_2_joint">
      <offset>0.0</offset>
      <hardwareInterface>hardware_interface/JointStateInterface</hardwareInterface>
      <hardwareInterface>hardware_interface/PositionJointInterface</hardwareInterface>
    </joint>
  </transmission>
  <!-- frames in the center of the camera -->
  <joint name="xtion_joint" type="fixed">
    <origin rpy="-1.5707963267948966 0.0 0.0" xyz="0.0908 0.08 0.0"/>
    <parent link="head_2_link"/>
    <child link="xtion_link"/>
  </joint>
  <link name="xtion_link">
    <inertial>
      <origin rpy="0 0 0" xyz="-0.00936000000 -0.00003000000 -0.00273000000"/>
      <mass value="0.21970000000"/>
      <inertia ixx="0.00000429247" ixy="0.00000000000" ixz="0.00000002565" iyy="0.00000008027" iyz="0.00000000000" izz="0.00000427339"/>
    </inertial>
    <!--
      <collision>
        <origin xyz="0 0 0" rpy="0 0 0"/>
        <geometry>
          <mesh filename="package://tiago_description/meshes/sensors/xtion_pro_live/xtion_pro_live.dae" />
        </geometry>
        <material name="Grey">
          <color rgba="0.5 0.5 0.5 1"/>
        </material>
      </collision>
      <visual>
        <origin xyz="-0.01 0.0025 0" rpy="0 0 0"/>
        <geometry>
          <box size="0.04 0.185 0.03"/>
        </geometry>
      </visual>
      -->
  </link>
  <joint name="xtion_optical_joint" type="fixed">
    <origin rpy="-1.5707963267948966 0.0 -1.5707963267948966" xyz="0 0 0"/>
    <parent link="xtion_link"/>
    <child link="xtion_optical_frame"/>
  </joint>
  <link name="xtion_optical_frame">
    <inertial>
      <origin rpy="0 0 0" xyz="0 0 0"/>
      <mass value="0.001"/>
      <inertia ixx="0.00001" ixy="0" ixz="0" iyy="0.00001" iyz="0" izz="0.00001"/>
    </inertial>
  </link>
  <!-- frame of camera origin provided by Orbbec, need this intermediate frame for backwards compatibility with xtion_pro_live
         to reuse same camera origin -->
  <joint name="xtion_orbbec_aux_joint" type="fixed">
    <!-- This is the real origin as in the robot solidworks, it must match: 0.1015 0.095 0.008 -->
    <!-- Assuming we have 0.0908 0.08 0.0 from default camera_position, and rotated -90 deg on x.-->
    <!-- Pending confirmation from Orbbec about the position of the frames, going with old defaults-->
    <!-- <origin xyz="0.0107 0.008 0.015" rpy="0 0 0" />-->
    <origin rpy="0 0 0" xyz="0 0 0"/>
    <parent link="xtion_link"/>
    <child link="xtion_orbbec_aux_joint_frame"/>
  </joint>
  <link name="xtion_orbbec_aux_joint_frame">
    <inertial>
      <origin rpy="0 0 0" xyz="0 0 0"/>
      <mass value="0.001"/>
      <inertia ixx="0.00001" ixy="0" ixz="0" iyy="0.00001" iyz="0" izz="0.00001"/>
    </inertial>
  </link>
  <!-- frames of the depth sensor -->
  <joint name="xtion_depth_joint" type="fixed">
    <origin rpy="0 0 0" xyz="0.0 0.025 0.0"/>
    <parent link="xtion_rgb_frame"/>
    <child link="xtion_depth_frame"/>
  </joint>
  <link name="xtion_depth_frame">
    <inertial>
      <origin rpy="0 0 0" xyz="0 0 0"/>
      <mass value="0.001"/>
      <inertia ixx="0.00001" ixy="0" ixz="0" iyy="0.00001" iyz="0" izz="0.00001"/>
    </inertial>
  </link>
  <joint name="xtion_depth_optical_joint" type="fixed">
    <origin rpy="-1.5707963267948966 0.0 -1.5707963267948966" xyz="0 0 0"/>
    <parent link="xtion_depth_frame"/>
    <child link="xtion_depth_optical_frame"/>
  </joint>
  <link name="xtion_depth_optical_frame">
    <inertial>
      <origin rpy="0 0 0" xyz="0 0 0"/>
      <mass value="0.001"/>
      <inertia ixx="0.00001" ixy="0" ixz="0" iyy="0.00001" iyz="0" izz="0.00001"/>
    </inertial>
  </link>
  <!-- frames of the rgb sensor -->
  <joint name="xtion_rgb_joint" type="fixed">
    <origin rpy="0 0 0" xyz="0.0 0.022 0.0"/>
    <parent link="xtion_orbbec_aux_joint_frame"/>
    <child link="xtion_rgb_frame"/>
  </joint>
  <link name="xtion_rgb_frame">
    <inertial>
      <origin rpy="0 0 0" xyz="0 0 0"/>
      <mass value="0.001"/>
      <inertia ixx="0.00001" ixy="0" ixz="0" iyy="0.00001" iyz="0" izz="0.00001"/>
    </inertial>
  </link>
  <joint name="xtion_rgb_optical_joint" type="fixed">
    <origin rpy="-1.5707963267948966 0.0 -1.5707963267948966" xyz="0 0 0"/>
    <parent link="xtion_rgb_frame"/>
    <child link="xtion_rgb_optical_frame"/>
  </joint>
  <link name="xtion_rgb_optical_frame">
    <inertial>
      <origin rpy="0 0 0" xyz="0 0 0"/>
      <mass value="0.001"/>
      <inertia ixx="0.00001" ixy="0" ixz="0" iyy="0.00001" iyz="0" izz="0.00001"/>
    </inertial>
  </link>
  <gazebo reference="xtion_rgb_frame">
    <sensor name="xtion_frame_sensor" type="depth">
      <always_on>true</always_on>
      <update_rate>30.0</update_rate>
      <camera>
        <horizontal_fov>1.0995574287564276</horizontal_fov>
        <image>
          <format>B8G8R8</format>
          <width>640</width>
          <height>480</height>
        </image>
        <clip>
          <near>0.3</near>
          <far>8.0</far>
        </clip>
      </camera>
      <plugin filename="libgazebo_ros_openni_kinect.so" name="xtion_frame_controller">
        <alwaysOn>true</alwaysOn>
        <updateRate>30.0</updateRate>
        <cameraName>xtion</cameraName>
        <imageTopicName>rgb/image_raw</imageTopicName>
        <cameraInfoTopicName>rgb/camera_info</cameraInfoTopicName>
        <depthImageTopicName>depth_registered/image_raw</depthImageTopicName>
        <depthImageCameraInfoTopicName>depth_registered/camera_info</depthImageCameraInfoTopicName>
        <pointCloudTopicName>depth_registered/points</pointCloudTopicName>
        <frameName>xtion_rgb_optical_frame</frameName>
        <pointCloudCutoff>0.5</pointCloudCutoff>
        <pointCloudCutoffMax>8.0</pointCloudCutoffMax>
        <distortionK1>0.00000001</distortionK1>
        <distortionK2>0.00000001</distortionK2>
        <distortionK3>0.00000001</distortionK3>
        <distortionT1>0.00000001</distortionT1>
        <distortionT2>0.00000001</distortionT2>
      </plugin>
    </sensor>
  </gazebo>
  <!--************************-->
  <!--        SHOULDER        -->
  <!--************************-->
  <link name="arm_1_link">
    <inertial>
      <!--<origin xyz="0.061191 ${reflect * -0.022397} -0.012835" rpy="0.00000 0.00000 0.00000"/>-->
      <origin rpy="0.00000 0.00000 0.00000" xyz="0.061191 -0.022397 -0.012835"/>
      <mass value="1.563428"/>
      <inertia ixx="0.002471" ixy="-0.001809" ixz="-0.001202" iyy="0.006132" iyz="0.000494" izz="0.006704"/>
    </inertial>
    <!-- M90 module -->
    <collision>
      <origin rpy="0 0 0" xyz="0 0 0"/>
      <geometry>
        <mesh filename="package://tiago_description/meshes/arm/arm_1.stl" scale="1 1 1"/>
      </geometry>
      <material name="White"/>
    </collision>
    <visual>
      <origin rpy="0 0 0" xyz="0 0 0"/>
      <geometry>
        <mesh filename="package://tiago_description/meshes/arm/arm_1_visual.dae" scale="1 1 1"/>
      </geometry>
    </visual>
  </link>
  <joint name="arm_1_joint" type="revolute">
    <parent link="torso_lift_link"/>
    <child link="arm_1_link"/>
    <origin rpy="0 0 -1.5707963267948966" xyz="0.15505 0.014 -0.151"/>
    <axis xyz="0 0 1"/>
    <limit effort="43.0" lower="0.0" upper="2.748893571891069" velocity="1.95"/>
    <dynamics damping="1.0" friction="1.0"/>
    <safety_controller k_position="20" k_velocity="20" soft_lower_limit="0.07" soft_upper_limit="2.678893571891069"/>
  </joint>
  <link name="arm_2_link">
    <inertial>
      <origin rpy="0.00000 0.00000 0.00000" xyz="0.030432 0.000229 -0.005942"/>
      <mass value="1.800397"/>
      <inertia ixx="0.001809" ixy="1.5e-05" ixz="0.000254" iyy="0.004333" iyz="1.4e-05" izz="0.004341"/>
    </inertial>
    <collision>
      <!-- <origin xyz="0 0 0" rpy="${180 * deg_to_rad} ${0 * deg_to_rad} ${-90 * deg_to_rad}" /> -->
      <origin rpy="0.0 0.0 0.0" xyz="0 0 0"/>
      <geometry>
        <mesh filename="package://tiago_description/meshes/arm/arm_2.stl" scale="1 1 1"/>
      </geometry>
      <material name="DarkGrey"/>
    </collision>
    <visual>
      <!-- <origin xyz="0 0 0" rpy="${180 * deg_to_rad} ${0 * deg_to_rad} ${-90 * deg_to_rad}" /> -->
      <origin rpy="0.0 0.0 0.0" xyz="0 0 0"/>
      <geometry>
        <mesh filename="package://tiago_description/meshes/arm/arm_2_visual.dae" scale="1 1 1"/>
      </geometry>
    </visual>
  </link>
  <joint name="arm_2_joint" type="revolute">
    <parent link="arm_1_link"/>
    <child link="arm_2_link"/>
    <origin rpy="1.5707963267948966 0.0 0.0" xyz="0.125 0.0195 -0.031"/>
    <axis xyz="0 0 1"/>
    <limit effort="43.0" lower="-1.5707963267948966" upper="1.090830782496456" velocity="1.95"/>
    <dynamics damping="1.0" friction="1.0"/>
    <safety_controller k_position="20" k_velocity="20" soft_lower_limit="-1.5007963267948965" soft_upper_limit="1.020830782496456"/>
  </joint>
  <link name="arm_3_link">
    <inertial>
      <origin rpy="0.00000 0.00000 0.00000" xyz="0.007418 -0.004361 -0.134194"/>
      <mass value="1.8"/>
      <inertia ixx="0.019541" ixy="-0.000105" ixz="-0.001717" iyy="0.019936" iyz="0.000852" izz="0.002864"/>
    </inertial>
    <collision>
      <origin rpy="0 0 0" xyz="0 0 0"/>
      <geometry>
        <mesh filename="package://tiago_description/meshes/arm/arm_3.stl" scale="1 1 1"/>
      </geometry>
      <material name="DarkGrey"/>
    </collision>
    <visual>
      <origin rpy="0 0 0" xyz="0 0 0"/>
      <geometry>
        <mesh filename="package://tiago_description/meshes/arm/arm_3_visual.dae" scale="1 1 1"/>
      </geometry>
    </visual>
  </link>
  <joint name="arm_3_joint" type="revolute">
    <parent link="arm_2_link"/>
    <child link="arm_3_link"/>
    <origin rpy="-1.5707963267948966 0.0 1.5707963267948966" xyz="0.0895 0.0 -0.0015"/>
    <axis xyz="0 0 1"/>
    <limit effort="26" lower="-3.5342917352885173" upper="1.5707963267948966" velocity="2.35"/>
    <dynamics damping="1.0" friction="1.0"/>
    <safety_controller k_position="20" k_velocity="20" soft_lower_limit="-3.4642917352885174" soft_upper_limit="1.5007963267948965"/>
  </joint>
  <!--************************-->
  <!--        ELBOW           -->
  <!--************************-->
  <link name="arm_4_link">
    <inertial>
      <origin rpy="0.00000 0.00000 0.00000" xyz="-0.095658 0.014666 0.018133"/>
      <mass value="1.432697"/>
      <inertia ixx="0.002040" ixy="0.000725" ixz="-0.00115" iyy="0.008424" iyz="-0.000204" izz="0.008686"/>
    </inertial>
    <collision>
      <origin rpy="0 0 0" xyz="0 0 0"/>
      <geometry>
        <mesh filename="package://tiago_description/meshes/arm/arm_4.stl" scale="1 1 1"/>
      </geometry>
      <material name="DarkGrey"/>
    </collision>
    <visual>
      <origin rpy="0 0 0" xyz="0 0 0"/>
      <geometry>
        <mesh filename="package://tiago_description/meshes/arm/arm_4_visual.dae" scale="1 1 1"/>
      </geometry>
    </visual>
  </link>
  <joint name="arm_4_joint" type="revolute">
    <parent link="arm_3_link"/>
    <child link="arm_4_link"/>
    <origin rpy="-1.5707963267948966 -1.5707963267948966 0.0" xyz="-0.02 -0.027 -0.222"/>
    <axis xyz="0 0 1"/>
    <limit effort="26" lower="-0.39269908169872414" upper="2.356194490192345" velocity="2.35"/>
    <dynamics damping="1.0" friction="1.0"/>
    <safety_controller k_position="20" k_velocity="20" soft_lower_limit="-0.32269908169872413" soft_upper_limit="2.286194490192345"/>
  </joint>
  <gazebo reference="arm_1_link">
    <mu1>0.9</mu1>
    <mu2>0.9</mu2>
    <material>Gazebo/DarkGrey</material>
  </gazebo>
  <gazebo reference="arm_2_link">
    <mu1>0.9</mu1>
    <mu2>0.9</mu2>
    <material>Gazebo/DarkGrey</material>
  </gazebo>
  <gazebo reference="arm_3_link">
    <mu1>0.9</mu1>
    <mu2>0.9</mu2>
    <material>Gazebo/DarkGrey</material>
  </gazebo>
  <gazebo reference="arm_4_link">
    <mu1>0.9</mu1>
    <mu2>0.9</mu2>
    <material>Gazebo/DarkGrey</material>
  </gazebo>
  <gazebo reference="arm_1_joint">
    <implicitSpringDamper>1</implicitSpringDamper>
  </gazebo>
  <gazebo reference="arm_2_joint">
    <implicitSpringDamper>1</implicitSpringDamper>
  </gazebo>
  <gazebo reference="arm_3_joint">
    <implicitSpringDamper>1</implicitSpringDamper>
  </gazebo>
  <gazebo reference="arm_4_joint">
    <implicitSpringDamper>1</implicitSpringDamper>
  </gazebo>
  <!--************************-->
  <!--        WRIST           -->
  <!--************************-->
  <!--************************-->
  <!--        WRIST           -->
  <!--************************-->
  <link name="arm_5_link">
    <inertial>
      <origin rpy="0.00000 0.00000 0.00000" xyz="0.001078 -0.000151 -0.077173"/>
      <mass value="1.655819"/>
      <inertia ixx="0.00613800000" ixy="-0.00000400000" ixz="0.00015600000" iyy="0.00564000000" iyz="0.00002200000" izz="0.00179700000"/>
    </inertial>
    <collision>
      <origin rpy="0 0 0" xyz="0 0 0"/>
      <geometry>
        <mesh filename="package://tiago_description/meshes/arm/arm_5-wrist-2010.stl" scale="1 1 1"/>
      </geometry>
      <material name="LightGrey"/>
    </collision>
    <visual>
      <origin rpy="0 0 0" xyz="0 0 0"/>
      <geometry>
        <mesh filename="package://tiago_description/meshes/arm/arm_5_visual-wrist-2010.dae" scale="1 1 1"/>
      </geometry>
    </visual>
  </link>
  <joint name="arm_5_joint" type="revolute">
    <parent link="arm_4_link"/>
    <child link="arm_5_link"/>
    <origin rpy="1.5707963267948966 -1.5707963267948966 -1.5707963267948966" xyz="-0.162 0.02 0.027"/>
    <axis xyz="0 0 1"/>
    <limit effort="3" lower="-2.0943951023931953" upper="2.0943951023931953" velocity="1.95"/>
    <dynamics damping="1.0" friction="1.0"/>
    <safety_controller k_position="20" k_velocity="20" soft_lower_limit="-2.0743951023931952" soft_upper_limit="2.0743951023931952"/>
  </joint>
  <link name="arm_6_link">
    <inertial>
      <origin rpy="0.00000 0.00000 0.00000" xyz="-0.000153 -0.003122 0.000183"/>
      <mass value="0.370063"/>
      <inertia ixx="0.00021500000" ixy="0.00000000000" ixz="0.00000000000" iyy="0.00017000000" iyz="0.00000200000" izz="0.00017400000"/>
    </inertial>
    <collision>
      <origin rpy="0 0 0" xyz="0 0 0"/>
      <geometry>
        <mesh filename="package://tiago_description/meshes/arm/arm_6-wrist-2010.stl" scale="1 1 1"/>
      </geometry>
      <material name="LightGrey"/>
    </collision>
    <visual>
      <origin rpy="0 0 0" xyz="0 0 0"/>
      <geometry>
        <mesh filename="package://tiago_description/meshes/arm/arm_6_visual-wrist-2010.dae" scale="1 1 1"/>
      </geometry>
    </visual>
  </link>
  <joint name="arm_6_joint" type="revolute">
    <parent link="arm_5_link"/>
    <child link="arm_6_link"/>
    <origin rpy="0.0 -1.5707963267948966 -1.5707963267948966" xyz="0 0 0.15"/>
    <axis xyz="0 0 1"/>
    <limit effort="6.6" lower="-1.413716694115407" upper="1.413716694115407" velocity="1.76"/>
    <dynamics damping="1.0" friction="1.0"/>
    <safety_controller k_position="20" k_velocity="20" soft_lower_limit="-1.3937166941154069" soft_upper_limit="1.3937166941154069"/>
  </joint>
  <link name="arm_7_link">
    <inertial>
      <origin rpy="0.00000 0.00000 0.00000" xyz="0.000010 -0.000003 -0.007774"/>
      <mass value="0.234252"/>
      <inertia ixx="0.00014200000" ixy="0.00000000000" ixz="0.00000000000" iyy="0.00011300000" iyz="0.00000000000" izz="0.00005200000"/>
    </inertial>
  </link>
  <joint name="arm_7_joint" type="revolute">
    <parent link="arm_6_link"/>
    <child link="arm_7_link"/>
    <origin rpy="1.5707963267948966 0.0 1.5707963267948966" xyz="0 0 0"/>
    <axis xyz="0 0 1"/>
    <limit effort="6.6" lower="-2.0943951023931953" upper="2.0943951023931953" velocity="1.76"/>
    <dynamics damping="1.0" friction="1.0"/>
    <safety_controller k_position="20" k_velocity="20" soft_lower_limit="-2.0743951023931952" soft_upper_limit="2.0743951023931952"/>
  </joint>
  <gazebo reference="arm_5_link">
    <mu1>0.9</mu1>
    <mu2>0.9</mu2>
  </gazebo>
  <gazebo reference="arm_6_link">
    <mu1>0.9</mu1>
    <mu2>0.9</mu2>
  </gazebo>
  <gazebo reference="arm_7_link">
    <mu1>0.9</mu1>
    <mu2>0.9</mu2>
  </gazebo>
  <gazebo reference="arm_5_joint">
    <implicitSpringDamper>1</implicitSpringDamper>
  </gazebo>
  <gazebo reference="arm_6_joint">
    <implicitSpringDamper>1</implicitSpringDamper>
  </gazebo>
  <gazebo reference="arm_7_joint">
    <implicitSpringDamper>1</implicitSpringDamper>
    <provideFeedback>1</provideFeedback>
  </gazebo>
  <transmission name="arm_5_trans">
    <type>transmission_interface/SimpleTransmission</type>
    <actuator name="arm_5_motor">
      <mechanicalReduction>1.0</mechanicalReduction>
    </actuator>
    <joint name="arm_5_joint">
      <offset>0.0</offset>
      <hardwareInterface>hardware_interface/JointStateInterface</hardwareInterface>
      <hardwareInterface>hardware_interface/PositionJointInterface</hardwareInterface>
      <hardwareInterface>hardware_interface/EffortJointInterface</hardwareInterface>
    </joint>
  </transmission>
  <transmission name="arm_wrist_trans">
    <type>transmission_interface/DifferentialTransmission</type>
    <actuator name="arm_6_motor">
      <role>actuator1</role>
      <mechanicalReduction>-1.0</mechanicalReduction>
    </actuator>
    <actuator name="arm_7_motor">
      <role>actuator2</role>
      <mechanicalReduction>1.0</mechanicalReduction>
    </actuator>
    <joint name="arm_6_joint">
      <role>joint1</role>
      <offset>0.0</offset>
      <mechanicalReduction>1.0</mechanicalReduction>
      <hardwareInterface>hardware_interface/JointStateInterface</hardwareInterface>
      <hardwareInterface>hardware_interface/PositionJointInterface</hardwareInterface>
      <hardwareInterface>hardware_interface/EffortJointInterface</hardwareInterface>
      <ignoreTransmissionAbsoluteEncoder>1</ignoreTransmissionAbsoluteEncoder>
    </joint>
    <joint name="arm_7_joint">
      <role>joint2</role>
      <offset>0.0</offset>
      <mechanicalReduction>-1</mechanicalReduction>
      <hardwareInterface>hardware_interface/JointStateInterface</hardwareInterface>
      <hardwareInterface>hardware_interface/PositionJointInterface</hardwareInterface>
      <hardwareInterface>hardware_interface/EffortJointInterface</hardwareInterface>
      <ignoreTransmissionAbsoluteEncoder>1</ignoreTransmissionAbsoluteEncoder>
    </joint>
  </transmission>
  <!--***********************-->
  <!--        TOOL           -->
  <!--***********************-->
  <link name="arm_tool_link">
    <inertial>
      <mass value="0.1"/>
      <inertia ixx="8.33E-07" ixy="0.0" ixz="0.0" iyy="8.33E-07" iyz="0.0" izz="1.25E-06"/>
    </inertial>
    <collision>
      <origin rpy="0 1.5707963267948966 0" xyz="0.001 0 0"/>
      <geometry>
        <cylinder length="0.005" radius="0.005"/>
      </geometry>
      <material name="LightGrey"/>
    </collision>
    <visual>
      <origin rpy="0 1.5707963267948966 0" xyz="0.001 0 0"/>
      <geometry>
        <cylinder length="0.005" radius="0.005"/>
      </geometry>
    </visual>
  </link>
  <joint name="arm_tool_joint" type="fixed">
    <parent link="arm_7_link"/>
    <child link="arm_tool_link"/>
    <origin rpy="1.5707963267948966 -1.5707963267948966 3.141592653589793" xyz="0 0 0.046"/>
  </joint>
  <transmission name="arm_1_trans">
    <type>transmission_interface/SimpleTransmission</type>
    <actuator name="arm_1_motor">
      <mechanicalReduction>1.0</mechanicalReduction>
    </actuator>
    <joint name="arm_1_joint">
      <offset>0.0</offset>
      <hardwareInterface>hardware_interface/PositionJointInterface</hardwareInterface>
      <hardwareInterface>hardware_interface/EffortJointInterface</hardwareInterface>
      <hardwareInterface>hardware_interface/JointStateInterface</hardwareInterface>
    </joint>
  </transmission>
  <transmission name="arm_2_trans">
    <type>transmission_interface/SimpleTransmission</type>
    <actuator name="arm_2_motor">
      <mechanicalReduction>1.0</mechanicalReduction>
    </actuator>
    <joint name="arm_2_joint">
      <offset>0.0</offset>
      <hardwareInterface>hardware_interface/PositionJointInterface</hardwareInterface>
      <hardwareInterface>hardware_interface/EffortJointInterface</hardwareInterface>
      <hardwareInterface>hardware_interface/JointStateInterface</hardwareInterface>
    </joint>
  </transmission>
  <transmission name="arm_3_trans">
    <type>transmission_interface/SimpleTransmission</type>
    <actuator name="arm_3_motor">
      <mechanicalReduction>1.0</mechanicalReduction>
    </actuator>
    <joint name="arm_3_joint">
      <offset>0.0</offset>
      <hardwareInterface>hardware_interface/PositionJointInterface</hardwareInterface>
      <hardwareInterface>hardware_interface/EffortJointInterface</hardwareInterface>
      <hardwareInterface>hardware_interface/JointStateInterface</hardwareInterface>
    </joint>
  </transmission>
  <transmission name="arm_4_trans">
    <type>transmission_interface/SimpleTransmission</type>
    <actuator name="arm_4_motor">
      <mechanicalReduction>1.0</mechanicalReduction>
    </actuator>
    <joint name="arm_4_joint">
      <offset>0.0</offset>
      <hardwareInterface>hardware_interface/PositionJointInterface</hardwareInterface>
      <hardwareInterface>hardware_interface/EffortJointInterface</hardwareInterface>
      <hardwareInterface>hardware_interface/JointStateInterface</hardwareInterface>
    </joint>
  </transmission>
  <!-- Tool Link -->
  <link name="hand_tool_link">
    <inertial>
      <origin rpy="0 0 0" xyz="0 0 0"/>
      <mass value="0.0001"/>
      <inertia ixx="0.00001" ixy="0.0" ixz="0.0" iyy="0.00001" iyz="0.0" izz="0.00001"/>
    </inertial>
  </link>
  <joint name="hand_tool_joint" type="fixed">
    <origin rpy="0 0 0" xyz="0 0 0"/>
    <parent link="wrist_ft_tool_link"/>
    <child link="hand_tool_link"/>
    <axis xyz="0 0 0"/>
  </joint>
  <joint name="hand_palm_joint" type="fixed">
    <parent link="wrist_ft_tool_link"/>
    <child link="hand_palm_link"/>
    <origin rpy="0 0 0" xyz="0 0 0"/>
  </joint>
  <link name="hand_palm_link">
    <inertial>
      <origin rpy="0 0 0" xyz="0.0641 -0.0022 0.0021"/>
      <!-- NOTE: Less than total palm mass of 0.598kg because actuator masses are specified separately -->
      <mass value="0.4"/>
      <inertia ixx="0.000305100" ixy="0.000005037" ixz="0.000015302" iyy="0.000811920" iyz="0.000007622" izz="0.000655851"/>
    </inertial>
    <collision>
      <origin rpy="0 0 0" xyz="0 0 0"/>
      <geometry>
        <mesh filename="package://hey5_description/meshes/palm.stl" scale="1 1 1"/>
      </geometry>
      <material name="Hey5DarkGrey"/>
    </collision>
    <visual>
      <origin rpy="0 0 0" xyz="0 0 0"/>
      <geometry>
        <mesh filename="package://hey5_description/meshes/palm_collision.stl" scale="1 1 1"/>
      </geometry>
    </visual>
  </link>
  <gazebo reference="hand_palm_link">
    <material>Gazebo/Black</material>
  </gazebo>
  <joint name="hand_thumb_joint" type="revolute">
    <parent link="hand_palm_link"/>
    <child link="hand_thumb_link"/>
    <origin rpy="0 0 0" xyz="0 0 0"/>
    <axis xyz="0 0 1"/>
    <limit effort="2.0" lower="-2.6179938779914944" upper="6.283185307179586" velocity="3.35"/>
    <dynamics damping="0.5" friction="0.0"/>
    <!-- TODO: Tune -->
    <safety_controller k_position="20" k_velocity="20" soft_lower_limit="-2.6179938779914944" soft_upper_limit="6.283185307179586"/>
  </joint>
  <link name="hand_thumb_link">
    <inertial>
      <origin rpy="0 0 0" xyz="0 0 0"/>
      <mass value="0.05"/>
      <inertia ixx="0.001" ixy="0" ixz="0" iyy="0.001" iyz="0" izz="0.001"/>
      <!--To stabilize simulation-->
    </inertial>
    <collision>
      <origin rpy="0 0 0" xyz="0 0 0"/>
      <geometry>
        <sphere radius="0.001"/>
      </geometry>
      <material name="Hey5DarkGrey"/>
    </collision>
    <visual>
      <origin rpy="0 0 0" xyz="0 0 0"/>
      <geometry>
        <sphere radius="0.001"/>
      </geometry>
    </visual>
  </link>
  <transmission name="hand_thumb_trans">
    <type>transmission_interface/SimpleTransmission</type>
    <actuator name="hand_thumb_motor">
      <mechanicalReduction>1.0</mechanicalReduction>
    </actuator>
    <joint name="hand_thumb_joint">
      <hardwareInterface>hardware_interface/PositionJointInterface</hardwareInterface>
    </joint>
  </transmission>
  <joint name="hand_index_joint" type="revolute">
    <parent link="hand_palm_link"/>
    <child link="hand_index_link"/>
    <origin rpy="0 0 0" xyz="0 0 0"/>
    <axis xyz="0 0 1"/>
    <limit effort="2.0" lower="-3.0543261909900767" upper="6.806784082777885" velocity="3.35"/>
    <dynamics damping="0.5" friction="0.0"/>
    <!-- TODO: Tune -->
    <safety_controller k_position="20" k_velocity="20" soft_lower_limit="-3.0543261909900767" soft_upper_limit="6.806784082777885"/>
  </joint>
  <link name="hand_index_link">
    <inertial>
      <origin rpy="0 0 0" xyz="0 0 0"/>
      <mass value="0.05"/>
      <inertia ixx="0.001" ixy="0" ixz="0" iyy="0.001" iyz="0" izz="0.001"/>
      <!--To stabilize simulation-->
    </inertial>
    <collision>
      <origin rpy="0 0 0" xyz="0 0 0"/>
      <geometry>
        <sphere radius="0.001"/>
      </geometry>
      <material name="Hey5DarkGrey"/>
    </collision>
    <visual>
      <origin rpy="0 0 0" xyz="0 0 0"/>
      <geometry>
        <sphere radius="0.001"/>
      </geometry>
    </visual>
  </link>
  <transmission name="hand_index_trans">
    <type>transmission_interface/SimpleTransmission</type>
    <actuator name="hand_index_motor">
      <mechanicalReduction>1.0</mechanicalReduction>
    </actuator>
    <joint name="hand_index_joint">
      <hardwareInterface>hardware_interface/PositionJointInterface</hardwareInterface>
    </joint>
  </transmission>
  <joint name="hand_mrl_joint" type="revolute">
    <parent link="hand_palm_link"/>
    <child link="hand_mrl_link"/>
    <origin rpy="0 0 0" xyz="0 0 0"/>
    <axis xyz="0 0 1"/>
    <limit effort="2.0" lower="-2.530727415391778" upper="9.250245035569947" velocity="3.56"/>
    <dynamics damping="0.5" friction="0.0"/>
    <!-- TODO: Tune -->
    <safety_controller k_position="20" k_velocity="20" soft_lower_limit="-2.530727415391778" soft_upper_limit="9.250245035569947"/>
  </joint>
  <link name="hand_mrl_link">
    <inertial>
      <origin rpy="0 0 0" xyz="0 0 0"/>
      <mass value="0.05"/>
      <inertia ixx="0.001" ixy="0" ixz="0" iyy="0.001" iyz="0" izz="0.001"/>
      <!--To stabilize simulation-->
    </inertial>
    <collision>
      <origin rpy="0 0 0" xyz="0 0 0"/>
      <geometry>
        <sphere radius="0.001"/>
      </geometry>
      <material name="Hey5DarkGrey"/>
    </collision>
    <visual>
      <origin rpy="0 0 0" xyz="0 0 0"/>
      <geometry>
        <sphere radius="0.001"/>
      </geometry>
    </visual>
  </link>
  <transmission name="hand_mrl_trans">
    <type>transmission_interface/SimpleTransmission</type>
    <actuator name="hand_mrl_motor">
      <mechanicalReduction>1.0</mechanicalReduction>
    </actuator>
    <joint name="hand_mrl_joint">
      <hardwareInterface>hardware_interface/PositionJointInterface</hardwareInterface>
    </joint>
  </transmission>
  <joint name="hand_thumb_abd_joint" type="revolute">
    <parent link="hand_palm_link"/>
    <child link="hand_thumb_abd_link"/>
    <origin rpy="0 -1.1344640137963142 0" xyz="0.0901 0.0134 0.038"/>
    <axis xyz="0 0 1"/>
    <limit effort="2.0" lower="0.0" upper="1.5707963267948966" velocity="2.0"/>
    <dynamics damping="0.5" friction="0.0"/>
  </joint>
  <link name="hand_thumb_abd_link">
    <inertial>
      <origin rpy="0 0 0" xyz="-0.0132 0.0037 -0.0017"/>
      <mass value="0.014"/>
      <inertia ixx="0.001" ixy="0" ixz="0" iyy="0.001" iyz="0" izz="0.001"/>
      <!-- To stabilize simulation -->
    </inertial>
    <collision>
      <origin rpy="0 0 0" xyz="0 0 0"/>
      <geometry>
        <mesh filename="package://hey5_description/meshes/thumb_abd_collision.stl" scale="1 1 1"/>
      </geometry>
      <material name="Hey5DarkGrey"/>
    </collision>
    <visual>
      <origin rpy="0 0 0" xyz="0 0 0"/>
      <geometry>
        <mesh filename="package://hey5_description/meshes/thumb_abd_collision.stl" scale="1 1 1"/>
      </geometry>
    </visual>
  </link>
  <gazebo reference="hand_thumb_abd_link">
    <material>Gazebo/Black</material>
  </gazebo>
  <joint name="hand_thumb_virtual_1_joint" type="revolute">
    <parent link="hand_thumb_abd_link"/>
    <child link="hand_thumb_virtual_1_link"/>
    <origin rpy="-1.1442378576074825 0 0" xyz="0.0225 0.003 0"/>
    <axis xyz="0 0 1"/>
    <limit effort="2.0" lower="0.0" upper="0.7853981633974483" velocity="2.0"/>
    <dynamics damping="0.5" friction="0.0"/>
  </joint>
  <link name="hand_thumb_virtual_1_link">
    <inertial>
      <origin rpy="0 0 0" xyz="0.0065 0 0"/>
      <mass value="0.01"/>
      <!--TODO: can we make it zero and still have a stable dynamic simulation?-->
      <inertia ixx="0.001" ixy="0" ixz="0" iyy="0.001" iyz="0" izz="0.001"/>
      <!-- To stabilize simulation -->
    </inertial>
    <collision>
      <origin rpy="0 0 0" xyz="0.0065 0 0"/>
      <geometry>
        <box size="0.013 0.002 0.012"/>
      </geometry>
      <material name="Hey5DarkGrey"/>
    </collision>
    <visual>
      <origin rpy="0 0 0" xyz="0 0 0"/>
      <geometry>
        <box size="0.013 0.002 0.012"/>
      </geometry>
    </visual>
  </link>
  <gazebo reference="hand_thumb_virtual_1_link">
    <material>Gazebo/Black</material>
  </gazebo>
  <joint name="hand_thumb_flex_1_joint" type="revolute">
    <parent link="hand_thumb_virtual_1_link"/>
    <child link="hand_thumb_flex_1_link"/>
    <origin rpy="0 0 0" xyz="0.013 0 0"/>
    <axis xyz="0 0 1"/>
    <limit effort="2.0" lower="0.0" upper="0.7853981633974483" velocity="2.0"/>
    <dynamics damping="0.5" friction="0.0"/>
  </joint>
  <link name="hand_thumb_flex_1_link">
    <inertial>
      <origin rpy="0 0 0" xyz="0.0047 0.0031 0.0"/>
      <mass value="0.009"/>
      <inertia ixx="0.001" ixy="0" ixz="0" iyy="0.001" iyz="0" izz="0.001"/>
      <!-- To stabilize simulation -->
    </inertial>
    <collision>
      <origin rpy="0 0 0" xyz="0 0 0"/>
      <geometry>
        <mesh filename="package://hey5_description/meshes/finger_flex_collision.stl"/>
      </geometry>
      <material name="Hey5DarkGrey"/>
    </collision>
    <visual>
      <origin rpy="0 0 0" xyz="0 0 0"/>
      <geometry>
        <mesh filename="package://hey5_description/meshes/finger_flex_collision.stl"/>
      </geometry>
    </visual>
  </link>
  <gazebo reference="hand_thumb_flex_1_link">
    <material>Gazebo/Black</material>
  </gazebo>
  <joint name="hand_thumb_virtual_2_joint" type="revolute">
    <parent link="hand_thumb_flex_1_link"/>
    <child link="hand_thumb_virtual_2_link"/>
    <origin rpy="0 0 0" xyz="0.009 0 0"/>
    <axis xyz="0 0 1"/>
    <limit effort="2.0" lower="0.0" upper="0.7853981633974483" velocity="2.0"/>
    <dynamics damping="0.5" friction="0.0"/>
  </joint>
  <link name="hand_thumb_virtual_2_link">
    <inertial>
      <origin rpy="0 0 0" xyz="0.0065 0 0"/>
      <mass value="0.01"/>
      <!--TODO: can we make it zero and still have a stable dynamic simulation?-->
      <inertia ixx="0.001" ixy="0" ixz="0" iyy="0.001" iyz="0" izz="0.001"/>
      <!-- To stabilize simulation -->
    </inertial>
    <collision>
      <origin rpy="0 0 0" xyz="0.0065 0 0"/>
      <geometry>
        <box size="0.013 0.002 0.012"/>
      </geometry>
      <material name="Hey5DarkGrey"/>
    </collision>
    <visual>
      <origin rpy="0 0 0" xyz="0 0 0"/>
      <geometry>
        <box size="0.013 0.002 0.012"/>
      </geometry>
    </visual>
  </link>
  <gazebo reference="hand_thumb_virtual_2_link">
    <material>Gazebo/Black</material>
  </gazebo>
  <joint name="hand_thumb_flex_2_joint" type="revolute">
    <parent link="hand_thumb_virtual_2_link"/>
    <child link="hand_thumb_flex_2_link"/>
    <origin rpy="0 0 0" xyz="0.013 0 0"/>
    <axis xyz="0 0 1"/>
    <limit effort="2.0" lower="0.0" upper="0.7853981633974483" velocity="2.0"/>
    <dynamics damping="0.5" friction="0.0"/>
  </joint>
  <link name="hand_thumb_flex_2_link">
    <inertial>
      <origin rpy="0 0 0" xyz="0.0096 0.003 0.0"/>
      <mass value="0.015"/>
      <inertia ixx="0.001" ixy="0" ixz="0" iyy="0.001" iyz="0" izz="0.001"/>
      <!-- To stabilize simulation -->
    </inertial>
    <collision>
      <origin rpy="0 0 0" xyz="0 0 0"/>
      <geometry>
        <mesh filename="package://hey5_description/meshes/finger_flex_tip_collision.stl"/>
      </geometry>
      <material name="Hey5DarkGrey"/>
    </collision>
    <visual>
      <origin rpy="0 0 0" xyz="0 0 0"/>
      <geometry>
        <mesh filename="package://hey5_description/meshes/finger_flex_tip_collision.stl"/>
      </geometry>
    </visual>
  </link>
  <gazebo reference="hand_thumb_flex_2_link">
    <material>Gazebo/Black</material>
  </gazebo>
  <joint name="hand_index_abd_joint" type="revolute">
    <parent link="hand_palm_link"/>
    <child link="hand_index_abd_link"/>
    <origin rpy="-1.5707963267948966 -0.5235987755982988 0" xyz="0.1265 0.0042 0.0265"/>
    <axis xyz="0 0 1"/>
    <limit effort="2.0" lower="-0.5235987755982988" upper="0.5235987755982988" velocity="2.0"/>
    <dynamics damping="0.5" friction="0.0"/>
  </joint>
  <link name="hand_index_abd_link">
    <inertial>
      <origin rpy="0 0 0" xyz="-0.0018 0.0 0.0028"/>
      <mass value="0.018"/>
      <inertia ixx="0.001" ixy="0" ixz="0" iyy="0.001" iyz="0" izz="0.001"/>
      <!-- To stabilize simulation -->
    </inertial>
    <collision>
      <origin rpy="0 0 0" xyz="0 0 0"/>
      <geometry>
        <mesh filename="package://hey5_description/meshes/finger_abd_collision.stl" scale="1 1 1"/>
      </geometry>
      <material name="Hey5DarkGrey"/>
    </collision>
    <visual>
      <origin rpy="0 0 0" xyz="0 0 0"/>
      <geometry>
        <mesh filename="package://hey5_description/meshes/finger_abd_collision.stl" scale="1 1 1"/>
      </geometry>
    </visual>
  </link>
  <gazebo reference="hand_index_abd_link">
    <material>Gazebo/Black</material>
  </gazebo>
  <joint name="hand_index_virtual_1_joint" type="revolute">
    <parent link="hand_index_abd_link"/>
    <child link="hand_index_virtual_1_link"/>
    <origin rpy="1.5707963267948966 0 0" xyz="0.009 0 0"/>
    <axis xyz="0 0 1"/>
    <limit effort="2.0" lower="0.0" upper="0.7853981633974483" velocity="2.0"/>
    <dynamics damping="0.5" friction="0.0"/>
  </joint>
  <link name="hand_index_virtual_1_link">
    <inertial>
      <origin rpy="0 0 0" xyz="0.0065 0 0"/>
      <mass value="0.01"/>
      <!--TODO: can we make it zero and still have a stable dynamic simulation?-->
      <inertia ixx="0.001" ixy="0" ixz="0" iyy="0.001" iyz="0" izz="0.001"/>
      <!-- To stabilize simulation -->
    </inertial>
    <collision>
      <origin rpy="0 0 0" xyz="0.0065 0 0"/>
      <geometry>
        <box size="0.013 0.002 0.012"/>
      </geometry>
      <material name="Hey5DarkGrey"/>
    </collision>
    <visual>
      <origin rpy="0 0 0" xyz="0 0 0"/>
      <geometry>
        <box size="0.013 0.002 0.012"/>
      </geometry>
    </visual>
  </link>
  <gazebo reference="hand_index_virtual_1_link">
    <material>Gazebo/Black</material>
  </gazebo>
  <joint name="hand_index_flex_1_joint" type="revolute">
    <parent link="hand_index_virtual_1_link"/>
    <child link="hand_index_flex_1_link"/>
    <origin rpy="0 0 0" xyz="0.013 0 0"/>
    <axis xyz="0 0 1"/>
    <limit effort="2.0" lower="0.0" upper="0.7853981633974483" velocity="2.0"/>
    <dynamics damping="0.5" friction="0.0"/>
  </joint>
  <link name="hand_index_flex_1_link">
    <inertial>
      <origin rpy="0 0 0" xyz="0.0047 0.0031 0.0"/>
      <mass value="0.009"/>
      <inertia ixx="0.001" ixy="0" ixz="0" iyy="0.001" iyz="0" izz="0.001"/>
      <!-- To stabilize simulation -->
    </inertial>
    <collision>
      <origin rpy="0 0 0" xyz="0 0 0"/>
      <geometry>
        <mesh filename="package://hey5_description/meshes/finger_flex_collision.stl"/>
      </geometry>
      <material name="Hey5DarkGrey"/>
    </collision>
    <visual>
      <origin rpy="0 0 0" xyz="0 0 0"/>
      <geometry>
        <mesh filename="package://hey5_description/meshes/finger_flex_collision.stl"/>
      </geometry>
    </visual>
  </link>
  <gazebo reference="hand_index_flex_1_link">
    <material>Gazebo/Black</material>
  </gazebo>
  <joint name="hand_index_virtual_2_joint" type="revolute">
    <parent link="hand_index_flex_1_link"/>
    <child link="hand_index_virtual_2_link"/>
    <origin rpy="0 0 0" xyz="0.009 0 0"/>
    <axis xyz="0 0 1"/>
    <limit effort="2.0" lower="0.0" upper="0.7853981633974483" velocity="2.0"/>
    <dynamics damping="0.5" friction="0.0"/>
  </joint>
  <link name="hand_index_virtual_2_link">
    <inertial>
      <origin rpy="0 0 0" xyz="0.0065 0 0"/>
      <mass value="0.01"/>
      <!--TODO: can we make it zero and still have a stable dynamic simulation?-->
      <inertia ixx="0.001" ixy="0" ixz="0" iyy="0.001" iyz="0" izz="0.001"/>
      <!-- To stabilize simulation -->
    </inertial>
    <collision>
      <origin rpy="0 0 0" xyz="0.0065 0 0"/>
      <geometry>
        <box size="0.013 0.002 0.012"/>
      </geometry>
      <material name="Hey5DarkGrey"/>
    </collision>
    <visual>
      <origin rpy="0 0 0" xyz="0 0 0"/>
      <geometry>
        <box size="0.013 0.002 0.012"/>
      </geometry>
    </visual>
  </link>
  <gazebo reference="hand_index_virtual_2_link">
    <material>Gazebo/Black</material>
  </gazebo>
  <joint name="hand_index_flex_2_joint" type="revolute">
    <parent link="hand_index_virtual_2_link"/>
    <child link="hand_index_flex_2_link"/>
    <origin rpy="0 0 0" xyz="0.013 0 0"/>
    <axis xyz="0 0 1"/>
    <limit effort="2.0" lower="0.0" upper="0.7853981633974483" velocity="2.0"/>
    <dynamics damping="0.5" friction="0.0"/>
  </joint>
  <link name="hand_index_flex_2_link">
    <inertial>
      <origin rpy="0 0 0" xyz="0.0047 0.0031 0.0"/>
      <mass value="0.009"/>
      <inertia ixx="0.001" ixy="0" ixz="0" iyy="0.001" iyz="0" izz="0.001"/>
      <!-- To stabilize simulation -->
    </inertial>
    <collision>
      <origin rpy="0 0 0" xyz="0 0 0"/>
      <geometry>
        <mesh filename="package://hey5_description/meshes/finger_flex_collision.stl"/>
      </geometry>
      <material name="Hey5DarkGrey"/>
    </collision>
    <visual>
      <origin rpy="0 0 0" xyz="0 0 0"/>
      <geometry>
        <mesh filename="package://hey5_description/meshes/finger_flex_collision.stl"/>
      </geometry>
    </visual>
  </link>
  <gazebo reference="hand_index_flex_2_link">
    <material>Gazebo/Black</material>
  </gazebo>
  <joint name="hand_index_virtual_3_joint" type="revolute">
    <parent link="hand_index_flex_2_link"/>
    <child link="hand_index_virtual_3_link"/>
    <origin rpy="0 0 0" xyz="0.009 0 0"/>
    <axis xyz="0 0 1"/>
    <limit effort="2.0" lower="0.0" upper="0.7853981633974483" velocity="2.0"/>
    <dynamics damping="0.5" friction="0.0"/>
  </joint>
  <link name="hand_index_virtual_3_link">
    <inertial>
      <origin rpy="0 0 0" xyz="0.0065 0 0"/>
      <mass value="0.01"/>
      <!--TODO: can we make it zero and still have a stable dynamic simulation?-->
      <inertia ixx="0.001" ixy="0" ixz="0" iyy="0.001" iyz="0" izz="0.001"/>
      <!-- To stabilize simulation -->
    </inertial>
    <collision>
      <origin rpy="0 0 0" xyz="0.0065 0 0"/>
      <geometry>
        <box size="0.013 0.002 0.012"/>
      </geometry>
      <material name="Hey5DarkGrey"/>
    </collision>
    <visual>
      <origin rpy="0 0 0" xyz="0 0 0"/>
      <geometry>
        <box size="0.013 0.002 0.012"/>
      </geometry>
    </visual>
  </link>
  <gazebo reference="hand_index_virtual_3_link">
    <material>Gazebo/Black</material>
  </gazebo>
  <joint name="hand_index_flex_3_joint" type="revolute">
    <parent link="hand_index_virtual_3_link"/>
    <child link="hand_index_flex_3_link"/>
    <origin rpy="0 0 0" xyz="0.013 0 0"/>
    <axis xyz="0 0 1"/>
    <limit effort="2.0" lower="0.0" upper="0.7853981633974483" velocity="2.0"/>
    <dynamics damping="0.5" friction="0.0"/>
  </joint>
  <link name="hand_index_flex_3_link">
    <inertial>
      <origin rpy="0 0 0" xyz="0.0096 0.003 0.0"/>
      <mass value="0.015"/>
      <inertia ixx="0.001" ixy="0" ixz="0" iyy="0.001" iyz="0" izz="0.001"/>
      <!-- To stabilize simulation -->
    </inertial>
    <collision>
      <origin rpy="0 0 0" xyz="0 0 0"/>
      <geometry>
        <mesh filename="package://hey5_description/meshes/finger_flex_tip_collision.stl"/>
      </geometry>
      <material name="Hey5DarkGrey"/>
    </collision>
    <visual>
      <origin rpy="0 0 0" xyz="0 0 0"/>
      <geometry>
        <mesh filename="package://hey5_description/meshes/finger_flex_tip_collision.stl"/>
      </geometry>
    </visual>
  </link>
  <gazebo reference="hand_index_flex_3_link">
    <material>Gazebo/Black</material>
  </gazebo>
  <joint name="hand_middle_abd_joint" type="revolute">
    <parent link="hand_palm_link"/>
    <child link="hand_middle_abd_link"/>
    <origin rpy="-1.5707963267948966 0 0" xyz="0.1335 0.0042 0.007"/>
    <axis xyz="0 0 1"/>
    <limit effort="2.0" lower="-0.5235987755982988" upper="0.5235987755982988" velocity="2.0"/>
    <dynamics damping="0.5" friction="0.0"/>
  </joint>
  <link name="hand_middle_abd_link">
    <inertial>
      <origin rpy="0 0 0" xyz="-0.0018 0.0 0.0028"/>
      <mass value="0.018"/>
      <inertia ixx="0.001" ixy="0" ixz="0" iyy="0.001" iyz="0" izz="0.001"/>
      <!-- To stabilize simulation -->
    </inertial>
    <collision>
      <origin rpy="0 0 0" xyz="0 0 0"/>
      <geometry>
        <mesh filename="package://hey5_description/meshes/finger_abd_collision.stl" scale="1 1 1"/>
      </geometry>
      <material name="Hey5DarkGrey"/>
    </collision>
    <visual>
      <origin rpy="0 0 0" xyz="0 0 0"/>
      <geometry>
        <mesh filename="package://hey5_description/meshes/finger_abd_collision.stl" scale="1 1 1"/>
      </geometry>
    </visual>
  </link>
  <gazebo reference="hand_middle_abd_link">
    <material>Gazebo/Black</material>
  </gazebo>
  <joint name="hand_middle_virtual_1_joint" type="revolute">
    <parent link="hand_middle_abd_link"/>
    <child link="hand_middle_virtual_1_link"/>
    <origin rpy="1.5707963267948966 0 0" xyz="0.009 0 0"/>
    <axis xyz="0 0 1"/>
    <limit effort="2.0" lower="0.0" upper="0.7853981633974483" velocity="2.0"/>
    <dynamics damping="0.5" friction="0.0"/>
  </joint>
  <link name="hand_middle_virtual_1_link">
    <inertial>
      <origin rpy="0 0 0" xyz="0.0065 0 0"/>
      <mass value="0.01"/>
      <!--TODO: can we make it zero and still have a stable dynamic simulation?-->
      <inertia ixx="0.001" ixy="0" ixz="0" iyy="0.001" iyz="0" izz="0.001"/>
      <!-- To stabilize simulation -->
    </inertial>
    <collision>
      <origin rpy="0 0 0" xyz="0.0065 0 0"/>
      <geometry>
        <box size="0.013 0.002 0.012"/>
      </geometry>
      <material name="Hey5DarkGrey"/>
    </collision>
    <visual>
      <origin rpy="0 0 0" xyz="0 0 0"/>
      <geometry>
        <box size="0.013 0.002 0.012"/>
      </geometry>
    </visual>
  </link>
  <gazebo reference="hand_middle_virtual_1_link">
    <material>Gazebo/Black</material>
  </gazebo>
  <joint name="hand_middle_flex_1_joint" type="revolute">
    <parent link="hand_middle_virtual_1_link"/>
    <child link="hand_middle_flex_1_link"/>
    <origin rpy="0 0 0" xyz="0.013 0 0"/>
    <axis xyz="0 0 1"/>
    <limit effort="2.0" lower="0.0" upper="0.7853981633974483" velocity="2.0"/>
    <dynamics damping="0.5" friction="0.0"/>
  </joint>
  <link name="hand_middle_flex_1_link">
    <inertial>
      <origin rpy="0 0 0" xyz="0.0047 0.0031 0.0"/>
      <mass value="0.009"/>
      <inertia ixx="0.001" ixy="0" ixz="0" iyy="0.001" iyz="0" izz="0.001"/>
      <!-- To stabilize simulation -->
    </inertial>
    <collision>
      <origin rpy="0 0 0" xyz="0 0 0"/>
      <geometry>
        <mesh filename="package://hey5_description/meshes/finger_flex_collision.stl"/>
      </geometry>
      <material name="Hey5DarkGrey"/>
    </collision>
    <visual>
      <origin rpy="0 0 0" xyz="0 0 0"/>
      <geometry>
        <mesh filename="package://hey5_description/meshes/finger_flex_collision.stl"/>
      </geometry>
    </visual>
  </link>
  <gazebo reference="hand_middle_flex_1_link">
    <material>Gazebo/Black</material>
  </gazebo>
  <joint name="hand_middle_virtual_2_joint" type="revolute">
    <parent link="hand_middle_flex_1_link"/>
    <child link="hand_middle_virtual_2_link"/>
    <origin rpy="0 0 0" xyz="0.009 0 0"/>
    <axis xyz="0 0 1"/>
    <limit effort="2.0" lower="0.0" upper="0.7853981633974483" velocity="2.0"/>
    <dynamics damping="0.5" friction="0.0"/>
  </joint>
  <link name="hand_middle_virtual_2_link">
    <inertial>
      <origin rpy="0 0 0" xyz="0.0065 0 0"/>
      <mass value="0.01"/>
      <!--TODO: can we make it zero and still have a stable dynamic simulation?-->
      <inertia ixx="0.001" ixy="0" ixz="0" iyy="0.001" iyz="0" izz="0.001"/>
      <!-- To stabilize simulation -->
    </inertial>
    <collision>
      <origin rpy="0 0 0" xyz="0.0065 0 0"/>
      <geometry>
        <box size="0.013 0.002 0.012"/>
      </geometry>
      <material name="Hey5DarkGrey"/>
    </collision>
    <visual>
      <origin rpy="0 0 0" xyz="0 0 0"/>
      <geometry>
        <box size="0.013 0.002 0.012"/>
      </geometry>
    </visual>
  </link>
  <gazebo reference="hand_middle_virtual_2_link">
    <material>Gazebo/Black</material>
  </gazebo>
  <joint name="hand_middle_flex_2_joint" type="revolute">
    <parent link="hand_middle_virtual_2_link"/>
    <child link="hand_middle_flex_2_link"/>
    <origin rpy="0 0 0" xyz="0.013 0 0"/>
    <axis xyz="0 0 1"/>
    <limit effort="2.0" lower="0.0" upper="0.7853981633974483" velocity="2.0"/>
    <dynamics damping="0.5" friction="0.0"/>
  </joint>
  <link name="hand_middle_flex_2_link">
    <inertial>
      <origin rpy="0 0 0" xyz="0.0047 0.0031 0.0"/>
      <mass value="0.009"/>
      <inertia ixx="0.001" ixy="0" ixz="0" iyy="0.001" iyz="0" izz="0.001"/>
      <!-- To stabilize simulation -->
    </inertial>
    <collision>
      <origin rpy="0 0 0" xyz="0 0 0"/>
      <geometry>
        <mesh filename="package://hey5_description/meshes/finger_flex_collision.stl"/>
      </geometry>
      <material name="Hey5DarkGrey"/>
    </collision>
    <visual>
      <origin rpy="0 0 0" xyz="0 0 0"/>
      <geometry>
        <mesh filename="package://hey5_description/meshes/finger_flex_collision.stl"/>
      </geometry>
    </visual>
  </link>
  <gazebo reference="hand_middle_flex_2_link">
    <material>Gazebo/Black</material>
  </gazebo>
  <joint name="hand_middle_virtual_3_joint" type="revolute">
    <parent link="hand_middle_flex_2_link"/>
    <child link="hand_middle_virtual_3_link"/>
    <origin rpy="0 0 0" xyz="0.009 0 0"/>
    <axis xyz="0 0 1"/>
    <limit effort="2.0" lower="0.0" upper="0.7853981633974483" velocity="2.0"/>
    <dynamics damping="0.5" friction="0.0"/>
  </joint>
  <link name="hand_middle_virtual_3_link">
    <inertial>
      <origin rpy="0 0 0" xyz="0.0065 0 0"/>
      <mass value="0.01"/>
      <!--TODO: can we make it zero and still have a stable dynamic simulation?-->
      <inertia ixx="0.001" ixy="0" ixz="0" iyy="0.001" iyz="0" izz="0.001"/>
      <!-- To stabilize simulation -->
    </inertial>
    <collision>
      <origin rpy="0 0 0" xyz="0.0065 0 0"/>
      <geometry>
        <box size="0.013 0.002 0.012"/>
      </geometry>
      <material name="Hey5DarkGrey"/>
    </collision>
    <visual>
      <origin rpy="0 0 0" xyz="0 0 0"/>
      <geometry>
        <box size="0.013 0.002 0.012"/>
      </geometry>
    </visual>
  </link>
  <gazebo reference="hand_middle_virtual_3_link">
    <material>Gazebo/Black</material>
  </gazebo>
  <joint name="hand_middle_flex_3_joint" type="revolute">
    <parent link="hand_middle_virtual_3_link"/>
    <child link="hand_middle_flex_3_link"/>
    <origin rpy="0 0 0" xyz="0.013 0 0"/>
    <axis xyz="0 0 1"/>
    <limit effort="2.0" lower="0.0" upper="0.7853981633974483" velocity="2.0"/>
    <dynamics damping="0.5" friction="0.0"/>
  </joint>
  <link name="hand_middle_flex_3_link">
    <inertial>
      <origin rpy="0 0 0" xyz="0.0096 0.003 0.0"/>
      <mass value="0.015"/>
      <inertia ixx="0.001" ixy="0" ixz="0" iyy="0.001" iyz="0" izz="0.001"/>
      <!-- To stabilize simulation -->
    </inertial>
    <collision>
      <origin rpy="0 0 0" xyz="0 0 0"/>
      <geometry>
        <mesh filename="package://hey5_description/meshes/finger_flex_tip_collision.stl"/>
      </geometry>
      <material name="Hey5DarkGrey"/>
    </collision>
    <visual>
      <origin rpy="0 0 0" xyz="0 0 0"/>
      <geometry>
        <mesh filename="package://hey5_description/meshes/finger_flex_tip_collision.stl"/>
      </geometry>
    </visual>
  </link>
  <gazebo reference="hand_middle_flex_3_link">
    <material>Gazebo/Black</material>
  </gazebo>
  <joint name="hand_ring_abd_joint" type="revolute">
    <parent link="hand_palm_link"/>
    <child link="hand_ring_abd_link"/>
    <origin rpy="-1.5707963267948966 0.2617993877991494 0" xyz="0.1265 0.0042 -0.0125"/>
    <axis xyz="0 0 1"/>
    <limit effort="2.0" lower="-0.5235987755982988" upper="0.5235987755982988" velocity="2.0"/>
    <dynamics damping="0.5" friction="0.0"/>
  </joint>
  <link name="hand_ring_abd_link">
    <inertial>
      <origin rpy="0 0 0" xyz="-0.0018 0.0 0.0028"/>
      <mass value="0.018"/>
      <inertia ixx="0.001" ixy="0" ixz="0" iyy="0.001" iyz="0" izz="0.001"/>
      <!-- To stabilize simulation -->
    </inertial>
    <collision>
      <origin rpy="0 0 0" xyz="0 0 0"/>
      <geometry>
        <mesh filename="package://hey5_description/meshes/finger_abd_collision.stl" scale="1 1 1"/>
      </geometry>
      <material name="Hey5DarkGrey"/>
    </collision>
    <visual>
      <origin rpy="0 0 0" xyz="0 0 0"/>
      <geometry>
        <mesh filename="package://hey5_description/meshes/finger_abd_collision.stl" scale="1 1 1"/>
      </geometry>
    </visual>
  </link>
  <gazebo reference="hand_ring_abd_link">
    <material>Gazebo/Black</material>
  </gazebo>
  <joint name="hand_ring_virtual_1_joint" type="revolute">
    <parent link="hand_ring_abd_link"/>
    <child link="hand_ring_virtual_1_link"/>
    <origin rpy="1.5707963267948966 0 0" xyz="0.009 0 0"/>
    <axis xyz="0 0 1"/>
    <limit effort="2.0" lower="0.0" upper="0.7853981633974483" velocity="2.0"/>
    <dynamics damping="0.5" friction="0.0"/>
  </joint>
  <link name="hand_ring_virtual_1_link">
    <inertial>
      <origin rpy="0 0 0" xyz="0.0065 0 0"/>
      <mass value="0.01"/>
      <!--TODO: can we make it zero and still have a stable dynamic simulation?-->
      <inertia ixx="0.001" ixy="0" ixz="0" iyy="0.001" iyz="0" izz="0.001"/>
      <!-- To stabilize simulation -->
    </inertial>
    <collision>
      <origin rpy="0 0 0" xyz="0.0065 0 0"/>
      <geometry>
        <box size="0.013 0.002 0.012"/>
      </geometry>
      <material name="Hey5DarkGrey"/>
    </collision>
    <visual>
      <origin rpy="0 0 0" xyz="0 0 0"/>
      <geometry>
        <box size="0.013 0.002 0.012"/>
      </geometry>
    </visual>
  </link>
  <gazebo reference="hand_ring_virtual_1_link">
    <material>Gazebo/Black</material>
  </gazebo>
  <joint name="hand_ring_flex_1_joint" type="revolute">
    <parent link="hand_ring_virtual_1_link"/>
    <child link="hand_ring_flex_1_link"/>
    <origin rpy="0 0 0" xyz="0.013 0 0"/>
    <axis xyz="0 0 1"/>
    <limit effort="2.0" lower="0.0" upper="0.7853981633974483" velocity="2.0"/>
    <dynamics damping="0.5" friction="0.0"/>
  </joint>
  <link name="hand_ring_flex_1_link">
    <inertial>
      <origin rpy="0 0 0" xyz="0.0047 0.0031 0.0"/>
      <mass value="0.009"/>
      <inertia ixx="0.001" ixy="0" ixz="0" iyy="0.001" iyz="0" izz="0.001"/>
      <!-- To stabilize simulation -->
    </inertial>
    <collision>
      <origin rpy="0 0 0" xyz="0 0 0"/>
      <geometry>
        <mesh filename="package://hey5_description/meshes/finger_flex_collision.stl"/>
      </geometry>
      <material name="Hey5DarkGrey"/>
    </collision>
    <visual>
      <origin rpy="0 0 0" xyz="0 0 0"/>
      <geometry>
        <mesh filename="package://hey5_description/meshes/finger_flex_collision.stl"/>
      </geometry>
    </visual>
  </link>
  <gazebo reference="hand_ring_flex_1_link">
    <material>Gazebo/Black</material>
  </gazebo>
  <joint name="hand_ring_virtual_2_joint" type="revolute">
    <parent link="hand_ring_flex_1_link"/>
    <child link="hand_ring_virtual_2_link"/>
    <origin rpy="0 0 0" xyz="0.009 0 0"/>
    <axis xyz="0 0 1"/>
    <limit effort="2.0" lower="0.0" upper="0.7853981633974483" velocity="2.0"/>
    <dynamics damping="0.5" friction="0.0"/>
  </joint>
  <link name="hand_ring_virtual_2_link">
    <inertial>
      <origin rpy="0 0 0" xyz="0.0065 0 0"/>
      <mass value="0.01"/>
      <!--TODO: can we make it zero and still have a stable dynamic simulation?-->
      <inertia ixx="0.001" ixy="0" ixz="0" iyy="0.001" iyz="0" izz="0.001"/>
      <!-- To stabilize simulation -->
    </inertial>
    <collision>
      <origin rpy="0 0 0" xyz="0.0065 0 0"/>
      <geometry>
        <box size="0.013 0.002 0.012"/>
      </geometry>
      <material name="Hey5DarkGrey"/>
    </collision>
    <visual>
      <origin rpy="0 0 0" xyz="0 0 0"/>
      <geometry>
        <box size="0.013 0.002 0.012"/>
      </geometry>
    </visual>
  </link>
  <gazebo reference="hand_ring_virtual_2_link">
    <material>Gazebo/Black</material>
  </gazebo>
  <joint name="hand_ring_flex_2_joint" type="revolute">
    <parent link="hand_ring_virtual_2_link"/>
    <child link="hand_ring_flex_2_link"/>
    <origin rpy="0 0 0" xyz="0.013 0 0"/>
    <axis xyz="0 0 1"/>
    <limit effort="2.0" lower="0.0" upper="0.7853981633974483" velocity="2.0"/>
    <dynamics damping="0.5" friction="0.0"/>
  </joint>
  <link name="hand_ring_flex_2_link">
    <inertial>
      <origin rpy="0 0 0" xyz="0.0047 0.0031 0.0"/>
      <mass value="0.009"/>
      <inertia ixx="0.001" ixy="0" ixz="0" iyy="0.001" iyz="0" izz="0.001"/>
      <!-- To stabilize simulation -->
    </inertial>
    <collision>
      <origin rpy="0 0 0" xyz="0 0 0"/>
      <geometry>
        <mesh filename="package://hey5_description/meshes/finger_flex_collision.stl"/>
      </geometry>
      <material name="Hey5DarkGrey"/>
    </collision>
    <visual>
      <origin rpy="0 0 0" xyz="0 0 0"/>
      <geometry>
        <mesh filename="package://hey5_description/meshes/finger_flex_collision.stl"/>
      </geometry>
    </visual>
  </link>
  <gazebo reference="hand_ring_flex_2_link">
    <material>Gazebo/Black</material>
  </gazebo>
  <joint name="hand_ring_virtual_3_joint" type="revolute">
    <parent link="hand_ring_flex_2_link"/>
    <child link="hand_ring_virtual_3_link"/>
    <origin rpy="0 0 0" xyz="0.009 0 0"/>
    <axis xyz="0 0 1"/>
    <limit effort="2.0" lower="0.0" upper="0.7853981633974483" velocity="2.0"/>
    <dynamics damping="0.5" friction="0.0"/>
  </joint>
  <link name="hand_ring_virtual_3_link">
    <inertial>
      <origin rpy="0 0 0" xyz="0.0065 0 0"/>
      <mass value="0.01"/>
      <!--TODO: can we make it zero and still have a stable dynamic simulation?-->
      <inertia ixx="0.001" ixy="0" ixz="0" iyy="0.001" iyz="0" izz="0.001"/>
      <!-- To stabilize simulation -->
    </inertial>
    <collision>
      <origin rpy="0 0 0" xyz="0.0065 0 0"/>
      <geometry>
        <box size="0.013 0.002 0.012"/>
      </geometry>
      <material name="Hey5DarkGrey"/>
    </collision>
    <visual>
      <origin rpy="0 0 0" xyz="0 0 0"/>
      <geometry>
        <box size="0.013 0.002 0.012"/>
      </geometry>
    </visual>
  </link>
  <gazebo reference="hand_ring_virtual_3_link">
    <material>Gazebo/Black</material>
  </gazebo>
  <joint name="hand_ring_flex_3_joint" type="revolute">
    <parent link="hand_ring_virtual_3_link"/>
    <child link="hand_ring_flex_3_link"/>
    <origin rpy="0 0 0" xyz="0.013 0 0"/>
    <axis xyz="0 0 1"/>
    <limit effort="2.0" lower="0.0" upper="0.7853981633974483" velocity="2.0"/>
    <dynamics damping="0.5" friction="0.0"/>
  </joint>
  <link name="hand_ring_flex_3_link">
    <inertial>
      <origin rpy="0 0 0" xyz="0.0096 0.003 0.0"/>
      <mass value="0.015"/>
      <inertia ixx="0.001" ixy="0" ixz="0" iyy="0.001" iyz="0" izz="0.001"/>
      <!-- To stabilize simulation -->
    </inertial>
    <collision>
      <origin rpy="0 0 0" xyz="0 0 0"/>
      <geometry>
        <mesh filename="package://hey5_description/meshes/finger_flex_tip_collision.stl"/>
      </geometry>
      <material name="Hey5DarkGrey"/>
    </collision>
    <visual>
      <origin rpy="0 0 0" xyz="0 0 0"/>
      <geometry>
        <mesh filename="package://hey5_description/meshes/finger_flex_tip_collision.stl"/>
      </geometry>
    </visual>
  </link>
  <gazebo reference="hand_ring_flex_3_link">
    <material>Gazebo/Black</material>
  </gazebo>
  <joint name="hand_little_abd_joint" type="revolute">
    <parent link="hand_palm_link"/>
    <child link="hand_little_abd_link"/>
    <origin rpy="-1.5707963267948966 0.5235987755982988 0" xyz="0.1165 0.0042 -0.032"/>
    <axis xyz="0 0 1"/>
    <limit effort="2.0" lower="-0.5235987755982988" upper="0.5235987755982988" velocity="2.0"/>
    <dynamics damping="0.5" friction="0.0"/>
  </joint>
  <link name="hand_little_abd_link">
    <inertial>
      <origin rpy="0 0 0" xyz="-0.0018 0.0 0.0028"/>
      <mass value="0.018"/>
      <inertia ixx="0.001" ixy="0" ixz="0" iyy="0.001" iyz="0" izz="0.001"/>
      <!-- To stabilize simulation -->
    </inertial>
    <collision>
      <origin rpy="0 0 0" xyz="0 0 0"/>
      <geometry>
        <mesh filename="package://hey5_description/meshes/finger_abd_collision.stl" scale="1 1 1"/>
      </geometry>
      <material name="Hey5DarkGrey"/>
    </collision>
    <visual>
      <origin rpy="0 0 0" xyz="0 0 0"/>
      <geometry>
        <mesh filename="package://hey5_description/meshes/finger_abd_collision.stl" scale="1 1 1"/>
      </geometry>
    </visual>
  </link>
  <gazebo reference="hand_little_abd_link">
    <material>Gazebo/Black</material>
  </gazebo>
  <joint name="hand_little_virtual_1_joint" type="revolute">
    <parent link="hand_little_abd_link"/>
    <child link="hand_little_virtual_1_link"/>
    <origin rpy="1.5707963267948966 0 0" xyz="0.009 0 0"/>
    <axis xyz="0 0 1"/>
    <limit effort="2.0" lower="0.0" upper="0.7853981633974483" velocity="2.0"/>
    <dynamics damping="0.5" friction="0.0"/>
  </joint>
  <link name="hand_little_virtual_1_link">
    <inertial>
      <origin rpy="0 0 0" xyz="0.0065 0 0"/>
      <mass value="0.01"/>
      <!--TODO: can we make it zero and still have a stable dynamic simulation?-->
      <inertia ixx="0.001" ixy="0" ixz="0" iyy="0.001" iyz="0" izz="0.001"/>
      <!-- To stabilize simulation -->
    </inertial>
    <collision>
      <origin rpy="0 0 0" xyz="0.0065 0 0"/>
      <geometry>
        <box size="0.013 0.002 0.012"/>
      </geometry>
      <material name="Hey5DarkGrey"/>
    </collision>
    <visual>
      <origin rpy="0 0 0" xyz="0 0 0"/>
      <geometry>
        <box size="0.013 0.002 0.012"/>
      </geometry>
    </visual>
  </link>
  <gazebo reference="hand_little_virtual_1_link">
    <material>Gazebo/Black</material>
  </gazebo>
  <joint name="hand_little_flex_1_joint" type="revolute">
    <parent link="hand_little_virtual_1_link"/>
    <child link="hand_little_flex_1_link"/>
    <origin rpy="0 0 0" xyz="0.013 0 0"/>
    <axis xyz="0 0 1"/>
    <limit effort="2.0" lower="0.0" upper="0.7853981633974483" velocity="2.0"/>
    <dynamics damping="0.5" friction="0.0"/>
  </joint>
  <link name="hand_little_flex_1_link">
    <inertial>
      <origin rpy="0 0 0" xyz="0.0047 0.0031 0.0"/>
      <mass value="0.009"/>
      <inertia ixx="0.001" ixy="0" ixz="0" iyy="0.001" iyz="0" izz="0.001"/>
      <!-- To stabilize simulation -->
    </inertial>
    <collision>
      <origin rpy="0 0 0" xyz="0 0 0"/>
      <geometry>
        <mesh filename="package://hey5_description/meshes/finger_flex_collision.stl"/>
      </geometry>
      <material name="Hey5DarkGrey"/>
    </collision>
    <visual>
      <origin rpy="0 0 0" xyz="0 0 0"/>
      <geometry>
        <mesh filename="package://hey5_description/meshes/finger_flex_collision.stl"/>
      </geometry>
    </visual>
  </link>
  <gazebo reference="hand_little_flex_1_link">
    <material>Gazebo/Black</material>
  </gazebo>
  <joint name="hand_little_virtual_2_joint" type="revolute">
    <parent link="hand_little_flex_1_link"/>
    <child link="hand_little_virtual_2_link"/>
    <origin rpy="0 0 0" xyz="0.009 0 0"/>
    <axis xyz="0 0 1"/>
    <limit effort="2.0" lower="0.0" upper="0.7853981633974483" velocity="2.0"/>
    <dynamics damping="0.5" friction="0.0"/>
  </joint>
  <link name="hand_little_virtual_2_link">
    <inertial>
      <origin rpy="0 0 0" xyz="0.0065 0 0"/>
      <mass value="0.01"/>
      <!--TODO: can we make it zero and still have a stable dynamic simulation?-->
      <inertia ixx="0.001" ixy="0" ixz="0" iyy="0.001" iyz="0" izz="0.001"/>
      <!-- To stabilize simulation -->
    </inertial>
    <collision>
      <origin rpy="0 0 0" xyz="0.0065 0 0"/>
      <geometry>
        <box size="0.013 0.002 0.012"/>
      </geometry>
      <material name="Hey5DarkGrey"/>
    </collision>
    <visual>
      <origin rpy="0 0 0" xyz="0 0 0"/>
      <geometry>
        <box size="0.013 0.002 0.012"/>
      </geometry>
    </visual>
  </link>
  <gazebo reference="hand_little_virtual_2_link">
    <material>Gazebo/Black</material>
  </gazebo>
  <joint name="hand_little_flex_2_joint" type="revolute">
    <parent link="hand_little_virtual_2_link"/>
    <child link="hand_little_flex_2_link"/>
    <origin rpy="0 0 0" xyz="0.013 0 0"/>
    <axis xyz="0 0 1"/>
    <limit effort="2.0" lower="0.0" upper="0.7853981633974483" velocity="2.0"/>
    <dynamics damping="0.5" friction="0.0"/>
  </joint>
  <link name="hand_little_flex_2_link">
    <inertial>
      <origin rpy="0 0 0" xyz="0.0047 0.0031 0.0"/>
      <mass value="0.009"/>
      <inertia ixx="0.001" ixy="0" ixz="0" iyy="0.001" iyz="0" izz="0.001"/>
      <!-- To stabilize simulation -->
    </inertial>
    <collision>
      <origin rpy="0 0 0" xyz="0 0 0"/>
      <geometry>
        <mesh filename="package://hey5_description/meshes/finger_flex_collision.stl"/>
      </geometry>
      <material name="Hey5DarkGrey"/>
    </collision>
    <visual>
      <origin rpy="0 0 0" xyz="0 0 0"/>
      <geometry>
        <mesh filename="package://hey5_description/meshes/finger_flex_collision.stl"/>
      </geometry>
    </visual>
  </link>
  <gazebo reference="hand_little_flex_2_link">
    <material>Gazebo/Black</material>
  </gazebo>
  <joint name="hand_little_virtual_3_joint" type="revolute">
    <parent link="hand_little_flex_2_link"/>
    <child link="hand_little_virtual_3_link"/>
    <origin rpy="0 0 0" xyz="0.009 0 0"/>
    <axis xyz="0 0 1"/>
    <limit effort="2.0" lower="0.0" upper="0.7853981633974483" velocity="2.0"/>
    <dynamics damping="0.5" friction="0.0"/>
  </joint>
  <link name="hand_little_virtual_3_link">
    <inertial>
      <origin rpy="0 0 0" xyz="0.0065 0 0"/>
      <mass value="0.01"/>
      <!--TODO: can we make it zero and still have a stable dynamic simulation?-->
      <inertia ixx="0.001" ixy="0" ixz="0" iyy="0.001" iyz="0" izz="0.001"/>
      <!-- To stabilize simulation -->
    </inertial>
    <collision>
      <origin rpy="0 0 0" xyz="0.0065 0 0"/>
      <geometry>
        <box size="0.013 0.002 0.012"/>
      </geometry>
      <material name="Hey5DarkGrey"/>
    </collision>
    <visual>
      <origin rpy="0 0 0" xyz="0 0 0"/>
      <geometry>
        <box size="0.013 0.002 0.012"/>
      </geometry>
    </visual>
  </link>
  <gazebo reference="hand_little_virtual_3_link">
    <material>Gazebo/Black</material>
  </gazebo>
  <joint name="hand_little_flex_3_joint" type="revolute">
    <parent link="hand_little_virtual_3_link"/>
    <child link="hand_little_flex_3_link"/>
    <origin rpy="0 0 0" xyz="0.013 0 0"/>
    <axis xyz="0 0 1"/>
    <limit effort="2.0" lower="0.0" upper="0.7853981633974483" velocity="2.0"/>
    <dynamics damping="0.5" friction="0.0"/>
  </joint>
  <link name="hand_little_flex_3_link">
    <inertial>
      <origin rpy="0 0 0" xyz="0.0096 0.003 0.0"/>
      <mass value="0.015"/>
      <inertia ixx="0.001" ixy="0" ixz="0" iyy="0.001" iyz="0" izz="0.001"/>
      <!-- To stabilize simulation -->
    </inertial>
    <collision>
      <origin rpy="0 0 0" xyz="0 0 0"/>
      <geometry>
        <mesh filename="package://hey5_description/meshes/finger_flex_tip_collision.stl"/>
      </geometry>
      <material name="Hey5DarkGrey"/>
    </collision>
    <visual>
      <origin rpy="0 0 0" xyz="0 0 0"/>
      <geometry>
        <mesh filename="package://hey5_description/meshes/finger_flex_tip_collision.stl"/>
      </geometry>
    </visual>
  </link>
  <gazebo reference="hand_little_flex_3_link">
    <material>Gazebo/Black</material>
  </gazebo>
  <!--Abductor-->
  <transmission name="hand_thumb_abd_trans">
    <type>hey5_transmissions/Hey5Reducer</type>
    <joint name="hand_thumb_abd_joint">
      <saturationLower>0.0</saturationLower>
      <saturationUpper>1.5707963267948966</saturationUpper>
      <hardwareInterface>hardware_interface/JointStateInterface</hardwareInterface>
    </joint>
    <actuator name="hand_thumb_motor">
      <mechanicalReduction>0.6544984694978736</mechanicalReduction>
    </actuator>
  </transmission>
  <!--First flexor-->
  <transmission name="hand_thumb_virtual_1_trans">
    <type>hey5_transmissions/Hey5Reducer</type>
    <joint name="hand_thumb_virtual_1_joint">
      <saturationLower>0.0</saturationLower>
      <deadBandUpper>2.0</deadBandUpper>
      <hardwareInterface>hardware_interface/JointStateInterface</hardwareInterface>
    </joint>
    <actuator name="hand_thumb_motor">
      <mechanicalReduction>0.16299357854713997</mechanicalReduction>
    </actuator>
  </transmission>
  <transmission name="hand_thumb_flex_1_trans">
    <type>hey5_transmissions/Hey5Reducer</type>
    <joint name="hand_thumb_flex_1_joint">
      <saturationLower>0.0</saturationLower>
      <deadBandUpper>2.0</deadBandUpper>
      <hardwareInterface>hardware_interface/JointStateInterface</hardwareInterface>
    </joint>
    <actuator name="hand_thumb_motor">
      <mechanicalReduction>0.16299357854713997</mechanicalReduction>
    </actuator>
  </transmission>
  <!--Second flexor-->
  <transmission name="hand_thumb_virtual_2_trans">
    <type>hey5_transmissions/Hey5Reducer</type>
    <joint name="hand_thumb_virtual_2_joint">
      <saturationLower>0.0</saturationLower>
      <deadBandUpper>2.0</deadBandUpper>
      <hardwareInterface>hardware_interface/JointStateInterface</hardwareInterface>
    </joint>
    <actuator name="hand_thumb_motor">
      <mechanicalReduction>0.16299357854713997</mechanicalReduction>
    </actuator>
  </transmission>
  <transmission name="hand_thumb_flex_2_trans">
    <type>hey5_transmissions/Hey5Reducer</type>
    <joint name="hand_thumb_flex_2_joint">
      <saturationLower>0.0</saturationLower>
      <deadBandUpper>2.0</deadBandUpper>
      <hardwareInterface>hardware_interface/JointStateInterface</hardwareInterface>
    </joint>
    <actuator name="hand_thumb_motor">
      <mechanicalReduction>0.16299357854713997</mechanicalReduction>
    </actuator>
  </transmission>
  <!--Abductor-->
  <transmission name="hand_index_abd_trans">
    <type>hey5_transmissions/Hey5Reducer</type>
    <joint name="hand_index_abd_joint">
      <saturationLower>0.0</saturationLower>
      <saturationUpper>0.5235987755982988</saturationUpper>
      <hardwareInterface>hardware_interface/JointStateInterface</hardwareInterface>
    </joint>
    <actuator name="hand_index_motor">
      <mechanicalReduction>0.49866550056980846</mechanicalReduction>
    </actuator>
  </transmission>
  <!--First flexor-->
  <transmission name="hand_index_virtual_1_trans">
    <type>hey5_transmissions/Hey5Reducer</type>
    <joint name="hand_index_virtual_1_joint">
      <saturationLower>0.0</saturationLower>
      <deadBandUpper>0.7</deadBandUpper>
      <hardwareInterface>hardware_interface/JointStateInterface</hardwareInterface>
    </joint>
    <actuator name="hand_index_motor">
      <mechanicalReduction>0.10288861079760754</mechanicalReduction>
    </actuator>
  </transmission>
  <transmission name="hand_index_flex_1_trans">
    <type>hey5_transmissions/Hey5Reducer</type>
    <joint name="hand_index_flex_1_joint">
      <saturationLower>0.0</saturationLower>
      <deadBandUpper>0.7</deadBandUpper>
      <hardwareInterface>hardware_interface/JointStateInterface</hardwareInterface>
    </joint>
    <actuator name="hand_index_motor">
      <mechanicalReduction>0.10288861079760754</mechanicalReduction>
    </actuator>
  </transmission>
  <!--Second flexor-->
  <transmission name="hand_index_virtual_2_trans">
    <type>hey5_transmissions/Hey5Reducer</type>
    <joint name="hand_index_virtual_2_joint">
      <saturationLower>0.0</saturationLower>
      <deadBandUpper>0.7</deadBandUpper>
      <hardwareInterface>hardware_interface/JointStateInterface</hardwareInterface>
    </joint>
    <actuator name="hand_index_motor">
      <mechanicalReduction>0.10288861079760754</mechanicalReduction>
    </actuator>
  </transmission>
  <transmission name="hand_index_flex_2_trans">
    <type>hey5_transmissions/Hey5Reducer</type>
    <joint name="hand_index_flex_2_joint">
      <saturationLower>0.0</saturationLower>
      <deadBandUpper>0.7</deadBandUpper>
      <hardwareInterface>hardware_interface/JointStateInterface</hardwareInterface>
    </joint>
    <actuator name="hand_index_motor">
      <mechanicalReduction>0.10288861079760754</mechanicalReduction>
    </actuator>
  </transmission>
  <!--Third flexor-->
  <transmission name="hand_index_virtual_3_trans">
    <type>hey5_transmissions/Hey5Reducer</type>
    <joint name="hand_index_virtual_3_joint">
      <saturationLower>0.0</saturationLower>
      <deadBandUpper>0.7</deadBandUpper>
      <hardwareInterface>hardware_interface/JointStateInterface</hardwareInterface>
    </joint>
    <actuator name="hand_index_motor">
      <mechanicalReduction>0.10288861079760754</mechanicalReduction>
    </actuator>
  </transmission>
  <transmission name="hand_index_flex_3_trans">
    <type>hey5_transmissions/Hey5Reducer</type>
    <joint name="hand_index_flex_3_joint">
      <saturationLower>0.0</saturationLower>
      <deadBandUpper>0.7</deadBandUpper>
      <hardwareInterface>hardware_interface/JointStateInterface</hardwareInterface>
    </joint>
    <actuator name="hand_index_motor">
      <mechanicalReduction>0.10288861079760754</mechanicalReduction>
    </actuator>
  </transmission>
  <!--Abductor-->
  <transmission name="hand_middle_abd_trans">
    <type>hey5_transmissions/Hey5Reducer</type>
    <joint name="hand_middle_abd_joint">
      <saturationLower>0.0</saturationLower>
      <saturationUpper>0.0</saturationUpper>
      <hardwareInterface>hardware_interface/JointStateInterface</hardwareInterface>
    </joint>
    <actuator name="hand_mrl_motor">
      <mechanicalReduction>1.0</mechanicalReduction>
    </actuator>
  </transmission>
  <!--First flexor-->
  <transmission name="hand_middle_virtual_1_trans">
    <type>hey5_transmissions/Hey5Reducer</type>
    <joint name="hand_middle_virtual_1_joint">
      <saturationLower>0.0</saturationLower>
      <deadBandUpper>0.0</deadBandUpper>
      <hardwareInterface>hardware_interface/JointStateInterface</hardwareInterface>
    </joint>
    <actuator name="hand_mrl_motor">
      <mechanicalReduction>0.06792452830188679</mechanicalReduction>
    </actuator>
  </transmission>
  <transmission name="hand_middle_flex_1_trans">
    <type>hey5_transmissions/Hey5Reducer</type>
    <joint name="hand_middle_flex_1_joint">
      <saturationLower>0.0</saturationLower>
      <deadBandUpper>0.0</deadBandUpper>
      <hardwareInterface>hardware_interface/JointStateInterface</hardwareInterface>
    </joint>
    <actuator name="hand_mrl_motor">
      <mechanicalReduction>0.06792452830188679</mechanicalReduction>
    </actuator>
  </transmission>
  <!--Second flexor-->
  <transmission name="hand_middle_virtual_2_trans">
    <type>hey5_transmissions/Hey5Reducer</type>
    <joint name="hand_middle_virtual_2_joint">
      <saturationLower>0.0</saturationLower>
      <deadBandUpper>0.0</deadBandUpper>
      <hardwareInterface>hardware_interface/JointStateInterface</hardwareInterface>
    </joint>
    <actuator name="hand_mrl_motor">
      <mechanicalReduction>0.06792452830188679</mechanicalReduction>
    </actuator>
  </transmission>
  <transmission name="hand_middle_flex_2_trans">
    <type>hey5_transmissions/Hey5Reducer</type>
    <joint name="hand_middle_flex_2_joint">
      <saturationLower>0.0</saturationLower>
      <deadBandUpper>0.0</deadBandUpper>
      <hardwareInterface>hardware_interface/JointStateInterface</hardwareInterface>
    </joint>
    <actuator name="hand_mrl_motor">
      <mechanicalReduction>0.06792452830188679</mechanicalReduction>
    </actuator>
  </transmission>
  <!--Third flexor-->
  <transmission name="hand_middle_virtual_3_trans">
    <type>hey5_transmissions/Hey5Reducer</type>
    <joint name="hand_middle_virtual_3_joint">
      <saturationLower>0.0</saturationLower>
      <deadBandUpper>0.0</deadBandUpper>
      <hardwareInterface>hardware_interface/JointStateInterface</hardwareInterface>
    </joint>
    <actuator name="hand_mrl_motor">
      <mechanicalReduction>0.06792452830188679</mechanicalReduction>
    </actuator>
  </transmission>
  <transmission name="hand_middle_flex_3_trans">
    <type>hey5_transmissions/Hey5Reducer</type>
    <joint name="hand_middle_flex_3_joint">
      <saturationLower>0.0</saturationLower>
      <deadBandUpper>0.0</deadBandUpper>
      <hardwareInterface>hardware_interface/JointStateInterface</hardwareInterface>
    </joint>
    <actuator name="hand_mrl_motor">
      <mechanicalReduction>0.06792452830188679</mechanicalReduction>
    </actuator>
  </transmission>
  <!--Abductor-->
  <transmission name="hand_ring_abd_trans">
    <type>hey5_transmissions/Hey5Reducer</type>
    <joint name="hand_ring_abd_joint">
      <saturationLower>-0.2617993877991494</saturationLower>
      <saturationUpper>0.0</saturationUpper>
      <hardwareInterface>hardware_interface/JointStateInterface</hardwareInterface>
    </joint>
    <actuator name="hand_mrl_motor">
      <mechanicalReduction>-0.23271056693257727</mechanicalReduction>
    </actuator>
  </transmission>
  <!--First flexor-->
  <transmission name="hand_ring_virtual_1_trans">
    <type>hey5_transmissions/Hey5Reducer</type>
    <joint name="hand_ring_virtual_1_joint">
      <saturationLower>0.0</saturationLower>
      <deadBandUpper>0.75</deadBandUpper>
      <hardwareInterface>hardware_interface/JointStateInterface</hardwareInterface>
    </joint>
    <actuator name="hand_mrl_motor">
      <mechanicalReduction>0.07391769626507355</mechanicalReduction>
    </actuator>
  </transmission>
  <transmission name="hand_ring_flex_1_trans">
    <type>hey5_transmissions/Hey5Reducer</type>
    <joint name="hand_ring_flex_1_joint">
      <saturationLower>0.0</saturationLower>
      <deadBandUpper>0.75</deadBandUpper>
      <hardwareInterface>hardware_interface/JointStateInterface</hardwareInterface>
    </joint>
    <actuator name="hand_mrl_motor">
      <mechanicalReduction>0.07391769626507355</mechanicalReduction>
    </actuator>
  </transmission>
  <!--Second flexor-->
  <transmission name="hand_ring_virtual_2_trans">
    <type>hey5_transmissions/Hey5Reducer</type>
    <joint name="hand_ring_virtual_2_joint">
      <saturationLower>0.0</saturationLower>
      <deadBandUpper>0.75</deadBandUpper>
      <hardwareInterface>hardware_interface/JointStateInterface</hardwareInterface>
    </joint>
    <actuator name="hand_mrl_motor">
      <mechanicalReduction>0.07391769626507355</mechanicalReduction>
    </actuator>
  </transmission>
  <transmission name="hand_ring_flex_2_trans">
    <type>hey5_transmissions/Hey5Reducer</type>
    <joint name="hand_ring_flex_2_joint">
      <saturationLower>0.0</saturationLower>
      <deadBandUpper>0.75</deadBandUpper>
      <hardwareInterface>hardware_interface/JointStateInterface</hardwareInterface>
    </joint>
    <actuator name="hand_mrl_motor">
      <mechanicalReduction>0.07391769626507355</mechanicalReduction>
    </actuator>
  </transmission>
  <!--Third flexor-->
  <transmission name="hand_ring_virtual_3_trans">
    <type>hey5_transmissions/Hey5Reducer</type>
    <joint name="hand_ring_virtual_3_joint">
      <saturationLower>0.0</saturationLower>
      <deadBandUpper>0.75</deadBandUpper>
      <hardwareInterface>hardware_interface/JointStateInterface</hardwareInterface>
    </joint>
    <actuator name="hand_mrl_motor">
      <mechanicalReduction>0.07391769626507355</mechanicalReduction>
    </actuator>
  </transmission>
  <transmission name="hand_ring_flex_3_trans">
    <type>hey5_transmissions/Hey5Reducer</type>
    <joint name="hand_ring_flex_3_joint">
      <saturationLower>0.0</saturationLower>
      <deadBandUpper>0.75</deadBandUpper>
      <hardwareInterface>hardware_interface/JointStateInterface</hardwareInterface>
    </joint>
    <actuator name="hand_mrl_motor">
      <mechanicalReduction>0.07391769626507355</mechanicalReduction>
    </actuator>
  </transmission>
  <!--Abductor-->
  <transmission name="hand_little_abd_trans">
    <type>hey5_transmissions/Hey5Reducer</type>
    <joint name="hand_little_abd_joint">
      <saturationLower>-0.5235987755982988</saturationLower>
      <saturationUpper>0.0</saturationUpper>
      <hardwareInterface>hardware_interface/JointStateInterface</hardwareInterface>
    </joint>
    <actuator name="hand_mrl_motor">
      <mechanicalReduction>-0.46542113386515455</mechanicalReduction>
    </actuator>
  </transmission>
  <!--First flexor-->
  <transmission name="hand_little_virtual_1_trans">
    <type>hey5_transmissions/Hey5Reducer</type>
    <joint name="hand_little_virtual_1_joint">
      <saturationLower>0.0</saturationLower>
      <deadBandUpper>0.75</deadBandUpper>
      <hardwareInterface>hardware_interface/JointStateInterface</hardwareInterface>
    </joint>
    <actuator name="hand_mrl_motor">
      <mechanicalReduction>0.07391769626507355</mechanicalReduction>
    </actuator>
  </transmission>
  <transmission name="hand_little_flex_1_trans">
    <type>hey5_transmissions/Hey5Reducer</type>
    <joint name="hand_little_flex_1_joint">
      <saturationLower>0.0</saturationLower>
      <deadBandUpper>0.75</deadBandUpper>
      <hardwareInterface>hardware_interface/JointStateInterface</hardwareInterface>
    </joint>
    <actuator name="hand_mrl_motor">
      <mechanicalReduction>0.07391769626507355</mechanicalReduction>
    </actuator>
  </transmission>
  <!--Second flexor-->
  <transmission name="hand_little_virtual_2_trans">
    <type>hey5_transmissions/Hey5Reducer</type>
    <joint name="hand_little_virtual_2_joint">
      <saturationLower>0.0</saturationLower>
      <deadBandUpper>0.75</deadBandUpper>
      <hardwareInterface>hardware_interface/JointStateInterface</hardwareInterface>
    </joint>
    <actuator name="hand_mrl_motor">
      <mechanicalReduction>0.07391769626507355</mechanicalReduction>
    </actuator>
  </transmission>
  <transmission name="hand_little_flex_2_trans">
    <type>hey5_transmissions/Hey5Reducer</type>
    <joint name="hand_little_flex_2_joint">
      <saturationLower>0.0</saturationLower>
      <deadBandUpper>0.75</deadBandUpper>
      <hardwareInterface>hardware_interface/JointStateInterface</hardwareInterface>
    </joint>
    <actuator name="hand_mrl_motor">
      <mechanicalReduction>0.07391769626507355</mechanicalReduction>
    </actuator>
  </transmission>
  <!--Third flexor-->
  <transmission name="hand_little_virtual_3_trans">
    <type>hey5_transmissions/Hey5Reducer</type>
    <joint name="hand_little_virtual_3_joint">
      <saturationLower>0.0</saturationLower>
      <deadBandUpper>0.75</deadBandUpper>
      <hardwareInterface>hardware_interface/JointStateInterface</hardwareInterface>
    </joint>
    <actuator name="hand_mrl_motor">
      <mechanicalReduction>0.07391769626507355</mechanicalReduction>
    </actuator>
  </transmission>
  <transmission name="hand_little_flex_3_trans">
    <type>hey5_transmissions/Hey5Reducer</type>
    <joint name="hand_little_flex_3_joint">
      <saturationLower>0.0</saturationLower>
      <deadBandUpper>0.75</deadBandUpper>
      <hardwareInterface>hardware_interface/JointStateInterface</hardwareInterface>
    </joint>
    <actuator name="hand_mrl_motor">
      <mechanicalReduction>0.07391769626507355</mechanicalReduction>
    </actuator>
  </transmission>
  <link name="hand_grasping_frame"/>
  <joint name="hand_grasping_fixed_joint" type="fixed">
    <parent link="hand_palm_link"/>
    <child link="hand_grasping_frame"/>
    <axis xyz="0 0 1"/>
    <origin rpy="0 0 0" xyz="0.13 0.02 0"/>
  </joint>
  <gazebo>
    <plugin filename="libgazebo_underactuated_finger.so" name="gazebo_hand_thumb">
      <actuatedJoint>hand_thumb_joint</actuatedJoint>
      <virtualJoint>
        <name>hand_thumb_abd_joint</name>
        <scale_factor>2.0</scale_factor>
      </virtualJoint>
      <virtualJoint>
        <name>hand_thumb_flex_1_joint</name>
        <scale_factor>2.5</scale_factor>
      </virtualJoint>
      <virtualJoint>
        <name>hand_thumb_virtual_1_joint</name>
        <scale_factor>3.0</scale_factor>
      </virtualJoint>
      <virtualJoint>
        <name>hand_thumb_flex_2_joint</name>
        <scale_factor>3.5</scale_factor>
      </virtualJoint>
      <virtualJoint>
        <name>hand_thumb_virtual_2_joint</name>
        <scale_factor>3.0</scale_factor>
      </virtualJoint>
    </plugin>
    <plugin filename="libgazebo_underactuated_finger.so" name="gazebo_hand_index">
      <actuatedJoint>hand_index_joint</actuatedJoint>
      <virtualJoint>
        <name>hand_index_abd_joint</name>
        <scale_factor>5.0</scale_factor>
      </virtualJoint>
      <virtualJoint>
        <name>hand_index_flex_1_joint</name>
        <scale_factor>2.5</scale_factor>
      </virtualJoint>
      <virtualJoint>
        <name>hand_index_virtual_1_joint</name>
        <scale_factor>3.0</scale_factor>
      </virtualJoint>
      <virtualJoint>
        <name>hand_index_flex_2_joint</name>
        <scale_factor>3.5</scale_factor>
      </virtualJoint>
      <virtualJoint>
        <name>hand_index_virtual_2_joint</name>
        <scale_factor>3.5</scale_factor>
      </virtualJoint>
      <virtualJoint>
        <name>hand_index_flex_3_joint</name>
        <scale_factor>4.0</scale_factor>
      </virtualJoint>
    </plugin>
    <plugin filename="libgazebo_underactuated_finger.so" name="gazebo_hand_middle">
      <actuatedJoint>hand_mrl_joint</actuatedJoint>
      <virtualJoint>
        <name>hand_middle_flex_1_joint</name>
        <scale_factor>2.5</scale_factor>
      </virtualJoint>
      <virtualJoint>
        <name>hand_middle_virtual_1_joint</name>
        <scale_factor>3.0</scale_factor>
      </virtualJoint>
      <virtualJoint>
        <name>hand_middle_flex_2_joint</name>
        <scale_factor>3.5</scale_factor>
      </virtualJoint>
      <virtualJoint>
        <name>hand_middle_virtual_2_joint</name>
        <scale_factor>3.5</scale_factor>
      </virtualJoint>
      <virtualJoint>
        <name>hand_middle_flex_3_joint</name>
        <scale_factor>4.0</scale_factor>
      </virtualJoint>
    </plugin>
    <plugin filename="libgazebo_underactuated_finger.so" name="gazebo_hand_ring">
      <actuatedJoint>hand_mrl_joint</actuatedJoint>
      <virtualJoint>
        <name>hand_ring_flex_1_joint</name>
        <scale_factor>2.5</scale_factor>
      </virtualJoint>
      <virtualJoint>
        <name>hand_ring_virtual_1_joint</name>
        <scale_factor>3.0</scale_factor>
      </virtualJoint>
      <virtualJoint>
        <name>hand_ring_flex_2_joint</name>
        <scale_factor>3.5</scale_factor>
      </virtualJoint>
      <virtualJoint>
        <name>hand_ring_virtual_2_joint</name>
        <scale_factor>3.5</scale_factor>
      </virtualJoint>
      <virtualJoint>
        <name>hand_ring_flex_3_joint</name>
        <scale_factor>4.0</scale_factor>
      </virtualJoint>
    </plugin>
    <plugin filename="libgazebo_underactuated_finger.so" name="gazebo_hand_little">
      <actuatedJoint>hand_mrl_joint</actuatedJoint>
      <virtualJoint>
        <name>hand_little_flex_1_joint</name>
        <scale_factor>2.5</scale_factor>
      </virtualJoint>
      <virtualJoint>
        <name>hand_little_virtual_1_joint</name>
        <scale_factor>3.0</scale_factor>
      </virtualJoint>
      <virtualJoint>
        <name>hand_little_flex_2_joint</name>
        <scale_factor>3.5</scale_factor>
      </virtualJoint>
      <virtualJoint>
        <name>hand_little_virtual_2_joint</name>
        <scale_factor>3.5</scale_factor>
      </virtualJoint>
      <virtualJoint>
        <name>hand_little_flex_3_joint</name>
        <scale_factor>4.0</scale_factor>
      </virtualJoint>
    </plugin>
  </gazebo>
  <joint name="hand_safety_box_joint" type="fixed">
    <parent link="wrist_ft_tool_link"/>
    <child link="hand_safety_box"/>
    <origin rpy="0 0 0" xyz="0.1 0.02 0.02"/>
  </joint>
  <link name="hand_safety_box">
    <inertial>
      <origin rpy="0 0 0" xyz="0 0 0"/>
      <mass value="0.0001"/>
      <inertia ixx="0.0001" ixy="0" ixz="0" iyy="0.0001" iyz="0" izz="0.0001"/>
    </inertial>
    <!--
      <collision>
        <origin xyz="0 0 0" rpy="0 0 0" />
        <geometry>
          <box size="0.2 0.115 0.18" />
        </geometry>
      </collision>
      -->
    <visual>
      <origin rpy="0 0 0" xyz="0 0 0"/>
      <geometry>
        <box size="0.2 0.115 0.18"/>
      </geometry>
    </visual>
  </link>
  <!--************************-->
  <!--        ft sensor       -->
  <!--************************-->
  <link name="wrist_ft_link">
    <inertial>
      <mass value="0.1"/>
      <inertia ixx="1.6E-05" ixy="-2.0E-06" ixz="0.0" iyy="1.6E-05" iyz="0.0" izz="2.7E-05"/>
    </inertial>
    <collision>
      <origin rpy="0 0 0" xyz="0 0 0"/>
      <geometry>
        <cylinder length="0.0157" radius="0.0225"/>
      </geometry>
      <material name="LightGrey"/>
    </collision>
    <visual>
      <origin rpy="0 0 0" xyz="0 0 0"/>
      <geometry>
        <cylinder length="0.0157" radius="0.0225"/>
      </geometry>
    </visual>
  </link>
  <joint name="wrist_ft_joint" type="fixed">
    <parent link="arm_tool_link"/>
    <child link="wrist_ft_link"/>
    <origin rpy="1.5707963267948966 0 1.5707963267948966" xyz="0.00785 0 0"/>
  </joint>
  <!--***********************-->
  <!--       FT TOOL         -->
  <!--***********************-->
  <link name="wrist_ft_tool_link">
    <inertial>
      <mass value="0.1"/>
      <inertia ixx="1.64E-05" ixy="0.0" ixz="0.0" iyy="1.64E-05" iyz="0.0" izz="3.125E-05"/>
    </inertial>
    <collision>
      <origin rpy="0 1.5707963267948966 0" xyz="0.0 0 0"/>
      <geometry>
        <cylinder length="0.00975" radius="0.025"/>
      </geometry>
      <material name="FlatBlack"/>
    </collision>
    <visual>
      <origin rpy="0 1.5707963267948966 0" xyz="0.0 0 0"/>
      <geometry>
        <cylinder length="0.00975" radius="0.025"/>
      </geometry>
    </visual>
  </link>
  <joint name="wrist_tool_joint" type="fixed">
    <parent link="wrist_ft_link"/>
    <child link="wrist_ft_tool_link"/>
    <origin rpy="-1.5707963267948966 -1.5707963267948966 0" xyz="0 0 0.012725"/>
  </joint>
  <!-- RGBD Laser Link -->
  <joint name="rgbd_laser_joint" type="fixed">
    <parent link="base_footprint"/>
    <child link="rgbd_laser_link"/>
    <origin rpy="0 0 0" xyz="-0.9 0 0"/>
  </joint>
  <link name="rgbd_laser_link">
    <inertial>
      <origin rpy="0 0 0" xyz="0 0 0"/>
      <mass value="0.0001"/>
      <inertia ixx="0.0001" ixy="0" ixz="0" iyy="0.0001" iyz="0" izz="0.0001"/>
    </inertial>
  </link>
</robot>
